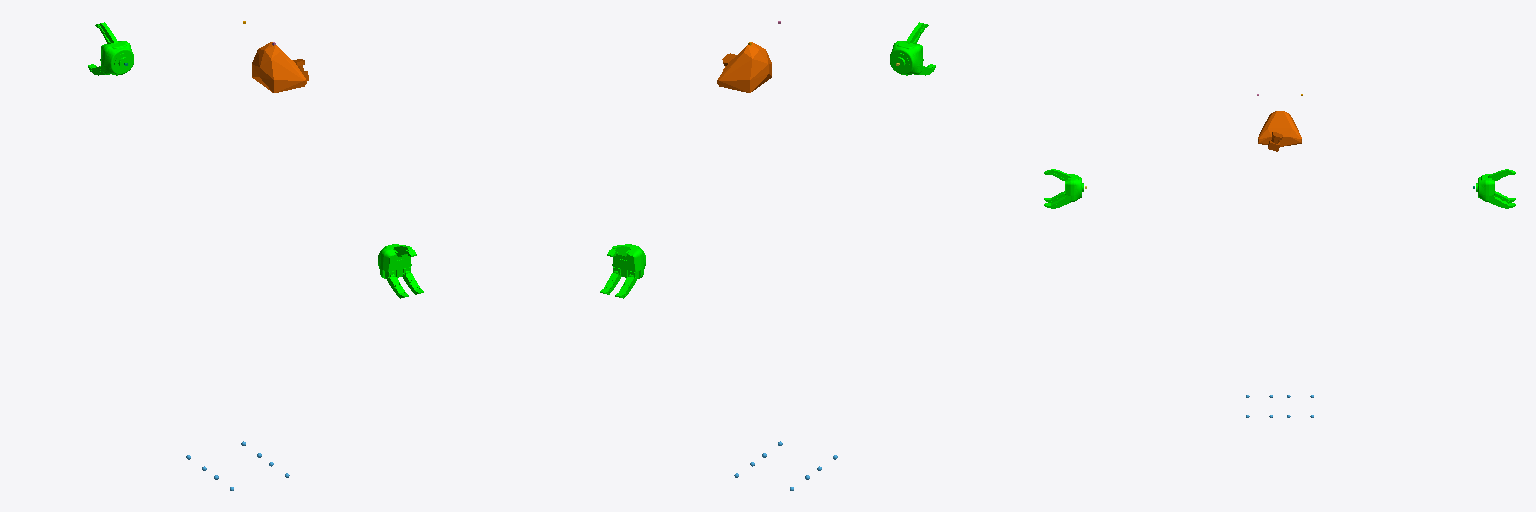
--- Facts derived from the render (not from the file) ---
Views: 3 orthographic renders of the robot side by side, from view 1: azimuth 30°, elevation 25°; view 2: azimuth 150°, elevation 25°; view 3: azimuth 270°, elevation 25°.
Model atlas with 94 links and 93 joints (30 revolute, 63 fixed), rooted at pelvis, posed all joints at 0.
Links seen in each view (by area): view 1: head, left_palm, right_palm; view 2: head, right_palm, left_palm; view 3: head.
Link boxes in pixels (<box>): head: <box>252,42,306,92</box>; left_palm: <box>100,41,133,75</box>; right_palm: <box>378,244,411,278</box>; head: <box>717,42,771,92</box>; right_palm: <box>890,41,923,75</box>; left_palm: <box>612,244,645,278</box>; head: <box>1258,111,1301,146</box>.
Bounding box of the posed robot: 0.4399 × 2.59 × 1.95 m (x, y, z).
28 mesh visuals loaded from 29 distinct referenced files (7 OBJ); not drawn: 28 (reference not matched to a file when rendering).

robot.urdf — atlas:
<?xml version="1.0" ?>
<!-- =================================================================================== -->
<!-- |    This document was autogenerated by xacro from atlas_v5_convex_hull_fingers.xacro | -->
<!-- |    EDITING THIS FILE BY HAND IS NOT RECOMMENDED                                 | -->
<!-- =================================================================================== -->
<robot name="atlas" xmlns:xacro="http://ros.org/wiki/xacro">
  <link name="l_clav">
    <inertial>
      <mass value="4.466"/>
      <origin rpy="0 0 0" xyz="0 0 -0.084"/>
      <inertia ixx="0.011" ixy="0" ixz="0" iyy="0.009" iyz="0.004" izz="0.004"/>
    </inertial>
    <visual>
      <geometry>
        <mesh filename="package://atlas_v5/meshes/r_clav.obj"/>
      </geometry>
    </visual>
    <collision>
      <geometry>
        <mesh filename="package://atlas_v5/meshes/r_clav_chull.obj"/>
      </geometry>
    </collision>
  </link>
  <link name="l_foot">
    <inertial>
      <mass value="2.410"/>
      <origin rpy="0 0 0" xyz="0.027 0 -0.067"/>
      <inertia ixx="0.002" ixy="0" ixz="0" iyy="0.007" iyz="0" izz="0.008"/>
    </inertial>
    <visual>
      <geometry>
        <mesh filename="package://atlas_v5/meshes/l_foot.obj"/>
      </geometry>
    </visual>
    <collision>
      <geometry>
        <mesh filename="package://atlas_v5/meshes/l_foot_chull.obj"/>
      </geometry>
    </collision>
    <collision group="heel">
      <origin rpy="0 0 0" xyz="-0.0876 0.066 -0.07645"/>
      <geometry>
        <sphere radius="0.0"/>
      </geometry>
    </collision>
    <visual group="heel">
      <origin rpy="0 0 0" xyz="-0.0876 0.066 -0.07645"/>
      <geometry>
        <sphere radius="0.01"/>
      </geometry>
    </visual>
    <collision group="heel">
      <origin rpy="0 0 0" xyz="-0.0876 -0.0626 -0.07645"/>
      <geometry>
        <sphere radius="0.0"/>
      </geometry>
    </collision>
    <visual group="heel">
      <origin rpy="0 0 0" xyz="-0.0876 -0.0626 -0.07645"/>
      <geometry>
        <sphere radius="0.01"/>
      </geometry>
    </visual>
    <collision group="toe">
      <origin rpy="0 0 0" xyz="0.1728 0.066 -0.07645"/>
      <geometry>
        <sphere radius="0.0"/>
      </geometry>
    </collision>
    <visual group="toe">
      <origin rpy="0 0 0" xyz="0.1728 0.066 -0.07645"/>
      <geometry>
        <sphere radius="0.01"/>
      </geometry>
    </visual>
    <collision group="toe">
      <origin rpy="0 0 0" xyz="0.1728 -0.0626 -0.07645"/>
      <geometry>
        <sphere radius="0.0"/>
      </geometry>
    </collision>
    <visual group="toe">
      <origin rpy="0 0 0" xyz="0.1728 -0.0626 -0.07645"/>
      <geometry>
        <sphere radius="0.01"/>
      </geometry>
    </visual>
  </link>
  <link name="l_hand">
    <inertial>
      <mass value="0.5839"/>
      <origin rpy="0 0 0" xyz="0.00016 -0.08159 0.00002"/>
      <inertia ixx="0.000388" ixy="0" ixz="0" iyy="0.000477" iyz="0" izz="0.000379"/>
    </inertial>
  </link>
  <link name="l_larm">
    <inertial>
      <mass value="3.248"/>
      <origin rpy="0 0 0" xyz="0 0 0"/>
      <inertia ixx="0.00265" ixy="0" ixz="0" iyy="0.00446" iyz="0" izz="0.00446"/>
    </inertial>
    <visual>
      <geometry>
        <mesh filename="package://atlas_v5/meshes/r_larm.obj"/>
      </geometry>
    </visual>
    <collision>
      <geometry>
        <mesh filename="package://atlas_v5/meshes/r_larm_chull.obj"/>
      </geometry>
    </collision>
  </link>
  <link name="l_lfarm">
    <inertial>
      <mass value="0.648"/>
      <origin rpy="0 0 0" xyz="0.00017 -0.02515 0.00163"/>
      <inertia ixx="0.000764" ixy="0" ixz="0" iyy="0.000429" iyz="0" izz="0.000825"/>
    </inertial>
    <visual>
      <geometry>
        <mesh filename="package://atlas_v5/meshes/r_hand.obj"/>
      </geometry>
    </visual>
    <collision>
      <geometry>
        <mesh filename="package://atlas_v5/meshes/r_hand_chull.obj"/>
      </geometry>
    </collision>
  </link>
  <link name="l_lglut">
    <inertial>
      <mass value="0.898"/>
      <origin rpy="0 0 0" xyz="0.0133341 0.0170484 -0.0312052"/>
      <inertia ixx="0.000691326" ixy="-2.24344e-05" ixz="2.50508e-06" iyy="0.00126856" iyz="0.000137862" izz="0.00106487"/>
    </inertial>
    <visual>
      <geometry>
        <mesh filename="package://atlas_v5/meshes/l_lglut.obj"/>
      </geometry>
    </visual>
    <collision>
      <geometry>
        <mesh filename="package://atlas_v5/meshes/l_lglut_chull.obj"/>
      </geometry>
    </collision>
  </link>
  <link name="l_lleg">
    <inertial>
      <mass value="4.515"/>
      <origin rpy="0 0 0" xyz="0.001 0 -0.187"/>
      <inertia ixx="0.077" ixy="0" ixz="-0.003" iyy="0.076" iyz="0" izz="0.01"/>
    </inertial>
    <visual>
      <geometry>
        <mesh filename="package://atlas_v5/meshes/l_lleg.obj"/>
      </geometry>
    </visual>
    <collision>
      <geometry>
        <mesh filename="package://atlas_v5/meshes/l_lleg_chull.obj"/>
      </geometry>
    </collision>
  </link>
  <link name="l_scap">
    <inertial>
      <mass value="3.899"/>
      <origin rpy="0 0 0" xyz="0 0 0"/>
      <inertia ixx="0.00319" ixy="0" ixz="0" iyy="0.00583" iyz="0" izz="0.00583"/>
    </inertial>
    <visual>
      <geometry>
        <mesh filename="package://atlas_v5/meshes/r_scap.obj"/>
      </geometry>
    </visual>
    <collision>
      <geometry>
        <mesh filename="package://atlas_v5/meshes/r_scap_chull.obj"/>
      </geometry>
    </collision>
  </link>
  <link name="l_talus">
    <inertial>
      <mass value="0.125"/>
      <origin rpy="0 0 0" xyz="0 0 0"/>
      <inertia ixx="1.01674e-05" ixy="0" ixz="0" iyy="8.42775e-06" iyz="0" izz="1.30101e-05"/>
    </inertial>
    <visual>
      <geometry>
        <mesh filename="package://atlas_v5/meshes/l_talus.obj"/>
      </geometry>
    </visual>
  </link>
  <link name="l_uarm">
    <inertial>
      <mass value="4.386"/>
      <origin rpy="0 0 0" xyz="0 0.065 0"/>
      <inertia ixx="0.00656" ixy="0" ixz="0" iyy="0.00358" iyz="0" izz="0.00656"/>
    </inertial>
    <visual>
      <geometry>
        <mesh filename="package://atlas_v5/meshes/r_uarm.obj"/>
      </geometry>
    </visual>
    <collision>
      <geometry>
        <mesh filename="package://atlas_v5/meshes/r_uarm_chull.obj"/>
      </geometry>
    </collision>
  </link>
  <link name="l_ufarm">
    <inertial>
      <mass value="2.4798"/>
      <origin rpy="0 0 0" xyz="0.00015 0.08296 0.00037"/>
      <inertia ixx="0.012731" ixy="0" ixz="0" iyy="0.002857" iyz="0" izz="0.011948"/>
    </inertial>
    <visual>
      <geometry>
        <mesh filename="package://atlas_v5/meshes/r_farm.obj"/>
      </geometry>
    </visual>
    <collision>
      <geometry>
        <mesh filename="package://atlas_v5/meshes/r_farm_chull.obj"/>
      </geometry>
    </collision>
  </link>
  <link name="l_uglut">
    <inertial>
      <mass value="1.959"/>
      <origin rpy="0 0 0" xyz="0.00529262 -0.00344732 0.00313046"/>
      <inertia ixx="0.00074276" ixy="-3.79607e-08" ixz="-2.79549e-05" iyy="0.000688179" iyz="-3.2735e-08" izz="0.00041242"/>
    </inertial>
    <visual>
      <geometry>
        <mesh filename="package://atlas_v5/meshes/l_uglut.obj"/>
      </geometry>
    </visual>
    <collision>
      <geometry>
        <mesh filename="package://atlas_v5/meshes/l_uglut_chull.obj"/>
      </geometry>
    </collision>
  </link>
  <link name="l_uleg">
    <inertial>
      <mass value="8.204"/>
      <origin rpy="0 0 0" xyz="0 0 -0.21"/>
      <inertia ixx="0.09" ixy="0" ixz="0" iyy="0.09" iyz="0" izz="0.02"/>
    </inertial>
    <visual>
      <geometry>
        <mesh filename="package://atlas_v5/meshes/l_uleg.obj"/>
      </geometry>
    </visual>
    <!-- to cover the logo shield -->
    <!-- inside strut -->
    <!-- outside strut -->
    <collision>
      <geometry>
        <mesh filename="package://atlas_v5/meshes/l_uleg_chull.obj"/>
      </geometry>
    </collision>
  </link>
  <link name="ltorso">
    <inertial>
      <mass value="2.270"/>
      <origin rpy="0 0 0" xyz="-0.0112984 -3.15366e-06 0.0746835"/>
      <inertia ixx="0.0039092" ixy="-5.04491e-08" ixz="-0.000342157" iyy="0.00341694" iyz="4.87119e-07" izz="0.00174492"/>
    </inertial>
    <visual>
      <geometry>
        <mesh filename="package://atlas_v5/meshes/ltorso.obj"/>
      </geometry>
    </visual>
  </link>
  <link name="mtorso">
    <inertial>
      <mass value="0.799"/>
      <origin rpy="0 0 0" xyz="-0.00816266 -0.0131245 0.0305974"/>
      <inertia ixx="0.000454181" ixy="-6.10764e-05" ixz="3.94009e-05" iyy="0.000483282" iyz="5.27463e-05" izz="0.000444215"/>
    </inertial>
    <visual>
      <geometry>
        <mesh filename="package://atlas_v5/meshes/mtorso.obj"/>
      </geometry>
    </visual>
  </link>
  <link name="pelvis">
    <inertial>
      <mass value="9.509"/>
      <origin rpy="0 0 0" xyz="0.0111 0 0.0271"/>
      <inertia ixx="0.1244" ixy="0.0008" ixz="-0.0007" iyy="0.0958" iyz="-0.0005" izz="0.1167"/>
    </inertial>
    <visual>
      <geometry>
        <mesh filename="package://atlas_v5/meshes/pelvis.obj"/>
      </geometry>
    </visual>
    <collision>
      <geometry>
        <mesh filename="package://atlas_v5/meshes/pelvis_chull.obj"/>
      </geometry>
    </collision>
  </link>
  <link name="r_clav">
    <inertial>
      <mass value="4.466"/>
      <origin rpy="0 0 0" xyz="0 0 -0.084"/>
      <inertia ixx="0.011" ixy="0" ixz="0" iyy="0.009" iyz="0.004" izz="0.004"/>
    </inertial>
    <visual>
      <geometry>
        <mesh filename="package://atlas_v5/meshes/r_clav.obj"/>
      </geometry>
    </visual>
    <collision>
      <geometry>
        <mesh filename="package://atlas_v5/meshes/r_clav_chull.obj"/>
      </geometry>
    </collision>
  </link>
  <link name="r_foot">
    <inertial>
      <mass value="2.41"/>
      <origin rpy="0 0 0" xyz="0.027 0 -0.067"/>
      <inertia ixx="0.002" ixy="0" ixz="0" iyy="0.007" iyz="0" izz="0.008"/>
    </inertial>
    <visual>
      <geometry>
        <mesh filename="package://atlas_v5/meshes/r_foot.obj"/>
      </geometry>
    </visual>
    <collision>
      <geometry>
        <mesh filename="package://atlas_v5/meshes/r_foot_chull.obj"/>
      </geometry>
    </collision>
    <collision group="heel">
      <origin rpy="0 0 0" xyz="-0.0876 0.0626 -0.07645"/>
      <geometry>
        <sphere radius="0.0"/>
      </geometry>
    </collision>
    <visual group="heel">
      <origin rpy="0 0 0" xyz="-0.0876 0.0626 -0.07645"/>
      <geometry>
        <sphere radius="0.01"/>
      </geometry>
    </visual>
    <collision group="heel">
      <origin rpy="0 0 0" xyz="-0.0876 -0.066 -0.07645"/>
      <geometry>
        <sphere radius="0.0"/>
      </geometry>
    </collision>
    <visual group="heel">
      <origin rpy="0 0 0" xyz="-0.0876 -0.066 -0.07645"/>
      <geometry>
        <sphere radius="0.01"/>
      </geometry>
    </visual>
    <collision group="toe">
      <origin rpy="0 0 0" xyz="0.1728 0.0626 -0.07645"/>
      <geometry>
        <sphere radius="0.0"/>
      </geometry>
    </collision>
    <visual group="toe">
      <origin rpy="0 0 0" xyz="0.1728 0.0626 -0.07645"/>
      <geometry>
        <sphere radius="0.01"/>
      </geometry>
    </visual>
    <collision group="toe">
      <origin rpy="0 0 0" xyz="0.1728 -0.066 -0.07645"/>
      <geometry>
        <sphere radius="0.0"/>
      </geometry>
    </collision>
    <visual group="toe">
      <origin rpy="0 0 0" xyz="0.1728 -0.066 -0.07645"/>
      <geometry>
        <sphere radius="0.01"/>
      </geometry>
    </visual>
  </link>
  <link name="r_hand">
    <inertial>
      <mass value="0.5839"/>
      <origin rpy="0 0 0" xyz="0.00016 -0.08159 0.00002"/>
      <inertia ixx="0.000388" ixy="0" ixz="0" iyy="0.000477" iyz="0" izz="0.000379"/>
    </inertial>
  </link>
  <link name="r_larm">
    <inertial>
      <mass value="3.248"/>
      <origin rpy="0 0 0" xyz="0 0 0"/>
      <inertia ixx="0.00265" ixy="0" ixz="0" iyy="0.00446" iyz="0" izz="0.00446"/>
    </inertial>
    <visual>
      <geometry>
        <mesh filename="package://atlas_v5/meshes/r_larm.obj"/>
      </geometry>
    </visual>
    <collision>
      <geometry>
        <mesh filename="package://atlas_v5/meshes/r_larm_chull.obj"/>
      </geometry>
    </collision>
  </link>
  <link name="r_lfarm">
    <inertial>
      <mass value="0.648"/>
      <origin rpy="0 0 0" xyz="0.00017 -0.02515 0.00163"/>
      <inertia ixx="0.000764" ixy="0" ixz="0" iyy="0.000429" iyz="0" izz="0.000825"/>
    </inertial>
    <visual>
      <geometry>
        <mesh filename="package://atlas_v5/meshes/r_hand.obj"/>
      </geometry>
    </visual>
    <collision>
      <geometry>
        <mesh filename="package://atlas_v5/meshes/r_hand_chull.obj"/>
      </geometry>
    </collision>
  </link>
  <link name="r_lglut">
    <inertial>
      <mass value="0.898"/>
      <origin rpy="0 0 0" xyz="0.0133341 -0.0170484 -0.0312052"/>
      <inertia ixx="0.000691326" ixy="2.24344e-05" ixz="2.50508e-06" iyy="0.00126856" iyz="-0.000137862" izz="0.00106487"/>
    </inertial>
    <visual>
      <geometry>
        <mesh filename="package://atlas_v5/meshes/r_lglut.obj"/>
      </geometry>
    </visual>
    <collision>
      <geometry>
        <mesh filename="package://atlas_v5/meshes/r_lglut_chull.obj"/>
      </geometry>
    </collision>
  </link>
  <link name="r_lleg">
    <inertial>
      <mass value="4.515"/>
      <origin rpy="0 0 0" xyz="0.001 0 -0.187"/>
      <inertia ixx="0.077" ixy="-0" ixz="-0.003" iyy="0.076" iyz="-0" izz="0.01"/>
    </inertial>
    <visual>
      <geometry>
        <mesh filename="package://atlas_v5/meshes/r_lleg.obj"/>
      </geometry>
    </visual>
    <collision>
      <geometry>
        <mesh filename="package://atlas_v5/meshes/r_lleg_chull.obj"/>
      </geometry>
    </collision>
  </link>
  <link name="r_scap">
    <inertial>
      <mass value="3.899"/>
      <origin rpy="0 0 0" xyz="0 0 0"/>
      <inertia ixx="0.00319" ixy="0" ixz="0" iyy="0.00583" iyz="0" izz="0.00583"/>
    </inertial>
    <visual>
      <geometry>
        <mesh filename="package://atlas_v5/meshes/r_scap.obj"/>
      </geometry>
    </visual>
    <collision>
      <geometry>
        <mesh filename="package://atlas_v5/meshes/r_scap_chull.obj"/>
      </geometry>
    </collision>
  </link>
  <link name="r_talus">
    <inertial>
      <mass value="0.125"/>
      <origin rpy="0 0 0" xyz="0 0 0"/>
      <inertia ixx="1.01674e-05" ixy="0" ixz="0" iyy="8.42775e-06" iyz="0" izz="1.30101e-05"/>
    </inertial>
    <visual>
      <geometry>
        <mesh filename="package://atlas_v5/meshes/r_talus.obj"/>
      </geometry>
    </visual>
  </link>
  <link name="r_uarm">
    <inertial>
      <mass value="4.386"/>
      <origin rpy="0 0 0" xyz="0 0.065 0"/>
      <inertia ixx="0.00656" ixy="0" ixz="0" iyy="0.00358" iyz="0" izz="0.00656"/>
    </inertial>
    <visual>
      <geometry>
        <mesh filename="package://atlas_v5/meshes/r_uarm.obj"/>
      </geometry>
    </visual>
    <collision>
      <geometry>
        <mesh filename="package://atlas_v5/meshes/r_uarm_chull.obj"/>
      </geometry>
    </collision>
  </link>
  <link name="r_ufarm">
    <inertial>
      <mass value="2.4798"/>
      <origin rpy="0 0 0" xyz="0.00015 0.08296 0.00037"/>
      <inertia ixx="0.012731" ixy="0" ixz="0" iyy="0.002857" iyz="0" izz="0.011948"/>
    </inertial>
    <visual>
      <geometry>
        <mesh filename="package://atlas_v5/meshes/r_farm.obj"/>
      </geometry>
    </visual>
    <collision>
      <geometry>
        <mesh filename="package://atlas_v5/meshes/r_farm_chull.obj"/>
      </geometry>
    </collision>
  </link>
  <link name="r_uglut">
    <inertial>
      <mass value="1.959"/>
      <origin rpy="0 0 0" xyz="0.00529262 0.00344732 0.00313046"/>
      <inertia ixx="0.00074276" ixy="3.79607e-08" ixz="-2.79549e-05" iyy="0.000688179" iyz="3.2735e-08" izz="0.00041242"/>
    </inertial>
    <visual>
      <geometry>
        <mesh filename="package://atlas_v5/meshes/r_uglut.obj"/>
      </geometry>
    </visual>
    <collision>
      <geometry>
        <mesh filename="package://atlas_v5/meshes/r_uglut_chull.obj"/>
      </geometry>
    </collision>
  </link>
  <link name="r_uleg">
    <inertial>
      <mass value="8.204"/>
      <origin rpy="0 0 0" xyz="0 0 -0.21"/>
      <inertia ixx="0.09" ixy="0" ixz="0" iyy="0.09" iyz="0" izz="0.02"/>
    </inertial>
    <visual>
      <geometry>
        <mesh filename="package://atlas_v5/meshes/r_uleg.obj"/>
      </geometry>
    </visual>
    <!-- to cover the logo shield -->
    <!-- inside strut -->
    <!-- outside strut -->
    <collision>
      <geometry>
        <mesh filename="package://atlas_v5/meshes/r_uleg_chull.obj"/>
      </geometry>
    </collision>
  </link>
  <link name="utorso">
    <inertial>
      <mass value="84.409"/>
      <origin rpy="0 0 0" xyz="-0.0622 0.0023 0.3157"/>
      <inertia ixx="1.577" ixy="-0.032" ixz="0.102" iyy="1.602" iyz="0.047" izz="0.565"/>
    </inertial>
    <visual>
      <geometry>
        <mesh filename="package://atlas_v5/meshes/utorso.obj"/>
      </geometry>
    </visual>
    <collision>
      <geometry>
        <mesh filename="package://atlas_v5/meshes/utorso_chull.obj"/>
      </geometry>
    </collision>
  </link>
  <joint name="back_bkx" type="revolute">
    <origin rpy="0 0 0" xyz="0 0 0.05"/>
    <axis xyz="1 0 0"/>
    <parent link="mtorso"/>
    <child link="utorso"/>
    <dynamics damping="0.1" friction="0"/>
    <limit effort="300" lower="-0.523599" upper="0.523599" velocity="12"/>
    <safety_controller k_position="100" k_velocity="100" soft_lower_limit="-10.5236" soft_upper_limit="10.5236"/>
  </joint>
  <joint name="back_bky" type="revolute">
    <origin rpy="0 0 0" xyz="0 0 0.162"/>
    <axis xyz="0 1 0"/>
    <parent link="ltorso"/>
    <child link="mtorso"/>
    <dynamics damping="0.1" friction="0"/>
    <limit effort="445" lower="-0.219388" upper="0.538783" velocity="9"/>
    <safety_controller k_position="100" k_velocity="100" soft_lower_limit="-10.2194" soft_upper_limit="10.5388"/>
  </joint>
  <joint name="back_bkz" type="revolute">
    <origin rpy="0 0 0" xyz="-0.0125 0 0"/>
    <axis xyz="0 0 1"/>
    <parent link="pelvis"/>
    <child link="ltorso"/>
    <dynamics damping="0.1" friction="0"/>
    <limit effort="106" lower="-0.663225" upper="0.663225" velocity="12"/>
    <safety_controller k_position="100" k_velocity="100" soft_lower_limit="-10.6632" soft_upper_limit="10.6632"/>
  </joint>
  <joint name="l_arm_elx" type="revolute">
    <origin rpy="0 0 0" xyz="0 -0.119 0.0092"/>
    <axis xyz="-1.0 -0.0 -0.0"/>
    <parent link="l_uarm"/>
    <child link="l_larm"/>
    <dynamics damping="0.1" friction="0"/>
    <limit effort="112" lower="0" upper="2.35619" velocity="12"/>
    <safety_controller k_position="100" k_velocity="100" soft_lower_limit="-10" soft_upper_limit="12.3562"/>
  </joint>
  <joint name="l_arm_ely" type="revolute">
    <origin rpy="0 0 0" xyz="0 -0.187 -0.016"/>
    <axis xyz="-0.0 -1.0 -0.0"/>
    <parent link="l_scap"/>
    <child link="l_uarm"/>
    <dynamics damping="0.1" friction="0"/>
    <limit effort="63" lower="0" upper="3.14159" velocity="12"/>
    <safety_controller k_position="100" k_velocity="100" soft_lower_limit="-10" soft_upper_limit="13.1416"/>
  </joint>
  <joint name="l_arm_shx" type="revolute">
    <origin rpy="0 0 0" xyz="0 -0.11 -0.245"/>
    <axis xyz="-1.0 -0.0 -0.0"/>
    <parent link="l_clav"/>
    <child link="l_scap"/>
    <dynamics damping="0.1" friction="0"/>
    <limit effort="99" lower="-1.5708" upper="1.5708" velocity="12"/>
    <safety_controller k_position="100" k_velocity="100" soft_lower_limit="-11.5708" soft_upper_limit="11.5708"/>
  </joint>
  <joint name="l_arm_shz" type="revolute">
    <origin rpy="0 0 3.14159265359" xyz="0.1406 0.2256 0.4776"/>
    <axis xyz="0 0 1"/>
    <parent link="utorso"/>
    <child link="l_clav"/>
    <dynamics damping="0.1" friction="0"/>
    <limit effort="87" lower="-1.5708" upper="0.785398" velocity="12"/>
    <safety_controller k_position="100" k_velocity="100" soft_lower_limit="-11.5708" soft_upper_limit="10.7854"/>
  </joint>
  <joint name="l_arm_mwx" type="revolute">
    <origin rpy="0 0 0" xyz="0 0 0"/>
    <axis xyz="1 0 0"/>
    <parent link="l_ufarm"/>
    <child link="l_lfarm"/>
    <dynamics damping="0.1" friction="0"/>
    <limit effort="25" lower="-1.7628" upper="1.7628" velocity="10"/>
    <safety_controller k_position="100" k_velocity="100" soft_lower_limit="-11.7628" soft_upper_limit="11.7628"/>
  </joint>
  <joint name="l_arm_uwy" type="revolute">
    <origin rpy="0 3.14159265359 0" xyz="0 -0.29955 -0.00921"/>
    <axis xyz="-0.0 -1.0 -0.0"/>
    <parent link="l_larm"/>
    <child link="l_ufarm"/>
    <dynamics damping="0.1" friction="0"/>
    <limit effort="25" lower="-3.011" upper="3.011" velocity="10"/>
    <safety_controller k_position="100" k_velocity="100" soft_lower_limit="-13.011" soft_upper_limit="13.011"/>
  </joint>
  <joint name="l_arm_lwy" type="revolute">
    <origin rpy="0 3.14159265359 0" xyz="0 0 0"/>
    <axis xyz="-0.0 -1.0 -0.0"/>
    <parent link="l_lfarm"/>
    <child link="l_hand"/>
    <dynamics damping="0.1" friction="0"/>
    <limit effort="25" lower="-2.9671" upper="2.9671" velocity="10"/>
    <safety_controller k_position="100" k_velocity="100" soft_lower_limit="-12.9671" soft_upper_limit="12.9671"/>
  </joint>
  <joint name="l_leg_akx" type="revolute">
    <origin rpy="0 0 0" xyz="0 0 0"/>
    <axis xyz="1 0 0"/>
    <parent link="l_talus"/>
    <child link="l_foot"/>
    <dynamics damping="0.1" friction="0"/>
    <limit effort="360" lower="-0.8" upper="0.8" velocity="12"/>
    <safety_controller k_position="100" k_velocity="100" soft_lower_limit="-10.8" soft_upper_limit="10.8"/>
  </joint>
  <joint name="l_leg_aky" type="revolute">
    <origin rpy="0 0 0" xyz="0 0 -0.422"/>
    <axis xyz="0 1 0"/>
    <parent link="l_lleg"/>
    <child link="l_talus"/>
    <dynamics damping="0.1" friction="0"/>
    <limit effort="740" lower="-1" upper="0.7" velocity="12"/>
    <safety_controller k_position="100" k_velocity="100" soft_lower_limit="-11" soft_upper_limit="10.7"/>
  </joint>
  <joint name="l_leg_hpx" type="revolute">
    <origin rpy="0 0 0" xyz="0 0 0"/>
    <axis xyz="1 0 0"/>
    <parent link="l_uglut"/>
    <child link="l_lglut"/>
    <dynamics damping="0.1" friction="0"/>
    <limit effort="530" lower="-0.523599" upper="0.523599" velocity="12"/>
    <safety_controller k_position="100" k_velocity="100" soft_lower_limit="-10.5236" soft_upper_limit="10.5236"/>
  </joint>
  <joint name="l_leg_hpy" type="revolute">
    <origin rpy="0 0 0" xyz="0.05 0.0225 -0.066"/>
    <axis xyz="0 1 0"/>
    <parent link="l_lglut"/>
    <child link="l_uleg"/>
    <dynamics damping="0.1" friction="0"/>
    <limit effort="840" lower="-1.61234" upper="0.65764" velocity="12"/>
    <safety_controller k_position="100" k_velocity="100" soft_lower_limit="-11.6123" soft_upper_limit="10.6576"/>
  </joint>
  <joint name="l_leg_hpz" type="revolute">
    <origin rpy="0 0 0" xyz="0 0.089 0"/>
    <axis xyz="0 0 1"/>
    <parent link="pelvis"/>
    <child link="l_uglut"/>
    <dynamics damping="0.1" friction="0"/>
    <limit effort="275" lower="-0.174358" upper="0.786794" velocity="12"/>
    <safety_controller k_position="100" k_velocity="100" soft_lower_limit="-10.1744" soft_upper_limit="10.7868"/>
  </joint>
  <joint name="l_leg_kny" type="revolute">
    <origin rpy="0 0 0" xyz="-0.05 0 -0.374"/>
    <axis xyz="0 1 0"/>
    <parent link="l_uleg"/>
    <child link="l_lleg"/>
    <dynamics damping="0.1" friction="0"/>
    <limit effort="890" lower="0" upper="2.35637" velocity="12"/>
    <safety_controller k_position="100" k_velocity="100" soft_lower_limit="-10" soft_upper_limit="12.3564"/>
  </joint>
  <joint name="neck_ay" type="revolute">
    <origin rpy="0 0 0" xyz="0.2946 0 0.5765"/>
    <axis xyz="0 1 0"/>
    <parent link="utorso"/>
    <child link="head"/>
    <dynamics damping="0.1" friction="0"/>
    <limit effort="25" lower="-0.602139" upper="1.14319" velocity="6.28"/>
    <safety_controller k_position="100" k_velocity="100" soft_lower_limit="-10.6021" soft_upper_limit="11.1432"/>
  </joint>
  <joint name="r_arm_elx" type="revolute">
    <origin rpy="0 0 0" xyz="0 -0.119 0.0092"/>
    <axis xyz="1 0 0"/>
    <parent link="r_uarm"/>
    <child link="r_larm"/>
    <dynamics damping="0.1" friction="0"/>
    <limit effort="112" lower="-2.35619" upper="0" velocity="12"/>
    <safety_controller k_position="100" k_velocity="100" soft_lower_limit="-12.3562" soft_upper_limit="10"/>
  </joint>
  <joint name="r_arm_ely" type="revolute">
    <origin rpy="0 0 0" xyz="0 -0.187 -0.016"/>
    <axis xyz="0 1 0"/>
    <parent link="r_scap"/>
    <child link="r_uarm"/>
    <dynamics damping="0.1" friction="0"/>
    <limit effort="63" lower="0" upper="3.14159" velocity="12"/>
    <safety_controller k_position="100" k_velocity="100" soft_lower_limit="-10" soft_upper_limit="13.1416"/>
  </joint>
  <joint name="r_arm_shx" type="revolute">
    <origin rpy="0 0 0" xyz="0 -0.11 -0.245"/>
    <axis xyz="1 0 0"/>
    <parent link="r_clav"/>
    <child link="r_scap"/>
    <dynamics damping="0.1" friction="0"/>
    <limit effort="99" lower="-1.5708" upper="1.5708" velocity="12"/>
    <safety_controller k_position="100" k_velocity="100" soft_lower_limit="-11.5708" soft_upper_limit="11.5708"/>
  </joint>
  <joint name="r_arm_shz" type="revolute">
    <origin rpy="0 0 0" xyz="0.1406 -0.2256 0.4776"/>
    <axis xyz="0 0 1"/>
    <parent link="utorso"/>
    <child link="r_clav"/>
    <dynamics damping="0.1" friction="0"/>
    <limit effort="87" lower="-0.785398" upper="1.5708" velocity="12"/>
    <safety_controller k_position="100" k_velocity="100" soft_lower_limit="-10.7854" soft_upper_limit="11.5708"/>
  </joint>
  <joint name="r_arm_mwx" type="revolute">
    <origin rpy="0 0 0" xyz="0 0 0"/>
    <axis xyz="1 0 0"/>
    <parent link="r_ufarm"/>
    <child link="r_lfarm"/>
    <dynamics damping="0.1" friction="0"/>
    <limit effort="25" lower="-1.7628" upper="1.7628" velocity="10"/>
    <safety_controller k_position="100" k_velocity="100" soft_lower_limit="-11.7628" soft_upper_limit="11.7628"/>
  </joint>
  <joint name="r_arm_uwy" type="revolute">
    <origin rpy="0 0 0" xyz="0 -0.29955 -0.00921"/>
    <axis xyz="0 1 0"/>
    <parent link="r_larm"/>
    <child link="r_ufarm"/>
    <dynamics damping="0.1" friction="0"/>
    <limit effort="25" lower="-3.011" upper="3.011" velocity="10"/>
    <safety_controller k_position="100" k_velocity="100" soft_lower_limit="-13.011" soft_upper_limit="13.011"/>
  </joint>
  <joint name="r_arm_lwy" type="revolute">
    <origin rpy="0 0 0" xyz="0 0 0"/>
    <axis xyz="0 1 0"/>
    <parent link="r_lfarm"/>
    <child link="r_hand"/>
    <dynamics damping="0.1" friction="0"/>
    <limit effort="25" lower="-2.9671" upper="2.9671" velocity="10"/>
    <safety_controller k_position="100" k_velocity="100" soft_lower_limit="-12.9671" soft_upper_limit="12.9671"/>
  </joint>
  <joint name="r_leg_akx" type="revolute">
    <origin rpy="0 0 0" xyz="0 0 0"/>
    <axis xyz="1 0 0"/>
    <parent link="r_talus"/>
    <child link="r_foot"/>
    <dynamics damping="0.1" friction="0"/>
    <limit effort="360" lower="-0.8" upper="0.8" velocity="12"/>
    <safety_controller k_position="100" k_velocity="100" soft_lower_limit="-10.8" soft_upper_limit="10.8"/>
  </joint>
  <joint name="r_leg_aky" type="revolute">
    <origin rpy="0 0 0" xyz="0 0 -0.422"/>
    <axis xyz="0 1 0"/>
    <parent link="r_lleg"/>
    <child link="r_talus"/>
    <dynamics damping="0.1" friction="0"/>
    <limit effort="740" lower="-1" upper="0.7" velocity="12"/>
    <safety_controller k_position="100" k_velocity="100" soft_lower_limit="-11" soft_upper_limit="10.7"/>
  </joint>
  <joint name="r_leg_hpx" type="revolute">
    <origin rpy="0 0 0" xyz="0 0 0"/>
    <axis xyz="1 0 0"/>
    <parent link="r_uglut"/>
    <child link="r_lglut"/>
    <dynamics damping="0.1" friction="0"/>
    <limit effort="530" lower="-0.523599" upper="0.523599" velocity="12"/>
    <safety_controller k_position="100" k_velocity="100" soft_lower_limit="-10.5236" soft_upper_limit="10.5236"/>
  </joint>
  <joint name="r_leg_hpy" type="revolute">
    <origin rpy="0 0 0" xyz="0.05 -0.0225 -0.066"/>
    <axis xyz="0 1 0"/>
    <parent link="r_lglut"/>
    <child link="r_uleg"/>
    <dynamics damping="0.1" friction="0"/>
    <limit effort="840" lower="-1.61234" upper="0.65764" velocity="12"/>
    <safety_controller k_position="100" k_velocity="100" soft_lower_limit="-11.6123" soft_upper_limit="10.6576"/>
  </joint>
  <joint name="r_leg_hpz" type="revolute">
    <origin rpy="0 0 0" xyz="0 -0.089 0"/>
    <axis xyz="0 0 1"/>
    <parent link="pelvis"/>
    <child link="r_uglut"/>
    <dynamics damping="0.1" friction="0"/>
    <limit effort="275" lower="-0.786794" upper="0.174358" velocity="12"/>
    <safety_controller k_position="100" k_velocity="100" soft_lower_limit="-10.7868" soft_upper_limit="10.1744"/>
  </joint>
  <joint name="r_leg_kny" type="revolute">
    <origin rpy="0 0 0" xyz="-0.05 0 -0.374"/>
    <axis xyz="0 1 0"/>
    <parent link="r_uleg"/>
    <child link="r_lleg"/>
    <dynamics damping="0.1" friction="0"/>
    <limit effort="890" lower="0" upper="2.35637" velocity="12"/>
    <safety_controller k_position="100" k_velocity="100" soft_lower_limit="-10" soft_upper_limit="12.3564"/>
  </joint>
  <link name="r_situational_awareness_camera_link">
    <inertial>
      <mass value="0.1"/>
      <origin xyz="0 0 0"/>
      <inertia ixx="0.00001" ixy="0" ixz="0" iyy="0.00001" iyz="0" izz="0.00001"/>
    </inertial>
    <visual>
      <origin rpy="0 0 0" xyz="0 0 0"/>
      <geometry>
        <box size="0.01 0.01 0.01"/>
      </geometry>
    </visual>
    <collision>
      <origin rpy="0 0 0" xyz="0 0 0"/>
      <geometry>
        <box size="0.01 0.01 0.01"/>
      </geometry>
    </collision>
  </link>
  <joint name="r_situational_awareness_camera_joint" type="fixed">
    <parent link="utorso"/>
    <child link="r_situational_awareness_camera_link"/>
    <!-- SA camera mounted above the multisense head -->
    <origin rpy="0 0 -1.309" xyz="0.155 -0.121 0.785"/>
  </joint>
  <joint name="r_situational_awareness_camera_optical_frame_joint" type="fixed">
    <origin rpy="-1.5708 0.0 -1.5708" xyz="0 0 0"/>
    <parent link="r_situational_awareness_camera_link"/>
    <child link="r_situational_awareness_camera_optical_frame"/>
  </joint>
  <link name="r_situational_awareness_camera_optical_frame"/>
  <link name="l_situational_awareness_camera_link">
    <inertial>
      <mass value="0.1"/>
      <origin xyz="0 0 0"/>
      <inertia ixx="0.00001" ixy="0" ixz="0" iyy="0.00001" iyz="0" izz="0.00001"/>
    </inertial>
    <visual>
      <origin rpy="0 0 0" xyz="0 0 0"/>
      <geometry>
        <box size="0.01 0.01 0.01"/>
      </geometry>
    </visual>
    <collision>
      <origin rpy="0 0 0" xyz="0 0 0"/>
      <geometry>
        <box size="0.01 0.01 0.01"/>
      </geometry>
    </collision>
  </link>
  <joint name="l_situational_awareness_camera_joint" type="fixed">
    <parent link="utorso"/>
    <child link="l_situational_awareness_camera_link"/>
    <!-- SA camera mounted above the multisense head -->
    <origin rpy="0 0 1.309" xyz="0.155 0.121 0.785"/>
  </joint>
  <joint name="l_situational_awareness_camera_optical_frame_joint" type="fixed">
    <origin rpy="-1.5708 0.0 -1.5708" xyz="0 0 0"/>
    <parent link="l_situational_awareness_camera_link"/>
    <child link="l_situational_awareness_camera_optical_frame"/>
  </joint>
  <link name="l_situational_awareness_camera_optical_frame"/>
  <frame link="l_foot" name="l_foot_sole" rpy="0 0 0" xyz="0.0426  0.0017 -0.07645"/>
  <frame link="r_foot" name="r_foot_sole" rpy="0 0 0" xyz="0.0426 -0.0017 -0.07645"/>
  <collision_filter_group name="feet">
    <member link="l_foot"/>
    <member link="r_foot"/>
    <ignored_collision_filter_group collision_filter_group="feet"/>
  </collision_filter_group>
  <collision_filter_group name="core">
    <member link="utorso"/>
    <member link="pelvis"/>
    <ignored_collision_filter_group collision_filter_group="core"/>
  </collision_filter_group>
  <collision_filter_group name="ignore_core">
    <member link="r_scap"/>
    <member link="l_scap"/>
    <member link="r_clav"/>
    <member link="l_clav"/>
    <ignored_collision_filter_group collision_filter_group="core"/>
  </collision_filter_group>
  <collision_filter_group name="r_uleg">
    <member link="r_uglut"/>
    <member link="r_lglut"/>
    <member link="r_uleg"/>
    <ignored_collision_filter_group collision_filter_group="core"/>
    <ignored_collision_filter_group collision_filter_group="r_uleg"/>
    <ignored_collision_filter_group collision_filter_group="l_uleg"/>
  </collision_filter_group>
  <collision_filter_group name="l_uleg">
    <member link="l_uglut"/>
    <member link="l_lglut"/>
    <member link="l_uleg"/>
    <ignored_collision_filter_group collision_filter_group="core"/>
    <ignored_collision_filter_group collision_filter_group="l_uleg"/>
    <ignored_collision_filter_group collision_filter_group="l_uleg"/>
  </collision_filter_group>
  <collision_filter_group name="r_leg">
    <member link="r_lleg"/>
    <member link="r_talus"/>
    <member link="r_foot"/>
    <ignored_collision_filter_group collision_filter_group="r_leg"/>
    <ignored_collision_filter_group collision_filter_group="r_uleg"/>
  </collision_filter_group>
  <collision_filter_group name="l_leg">
    <member link="l_lleg"/>
    <member link="l_talus"/>
    <member link="l_foot"/>
    <ignored_collision_filter_group collision_filter_group="l_leg"/>
    <ignored_collision_filter_group collision_filter_group="l_uleg"/>
  </collision_filter_group>
  <collision_filter_group name="r_arm">
    <member link="r_clav"/>
    <member link="r_scap"/>
    <member link="r_uarm"/>
    <member link="r_larm"/>
    <member link="r_ufarm"/>
    <member link="r_lfarm"/>
    <member link="r_hand"/>
    <ignored_collision_filter_group collision_filter_group="r_arm"/>
  </collision_filter_group>
  <collision_filter_group name="l_arm">
    <member link="l_clav"/>
    <member link="l_scap"/>
    <member link="l_uarm"/>
    <member link="l_larm"/>
    <member link="l_ufarm"/>
    <member link="l_lfarm"/>
    <member link="l_hand"/>
    <ignored_collision_filter_group collision_filter_group="l_arm"/>
  </collision_filter_group>
  <link name="head">
    <inertial>
      <origin rpy="0 0 0" xyz="-0.075493 3.3383E-05 0.02774"/>
      <mass value="1.4199"/>
      <inertia ixx="0.0039688" ixy="-1.5797E-06" ixz="-0.00089293" iyy="0.0041178" iyz="-6.8415E-07" izz="0.0035243"/>
    </inertial>
    <visual>
      <origin rpy="0 0 0" xyz="0 0 0"/>
      <geometry>
        <mesh filename="package://multisense_sl/meshes/head_chull.obj"/>
      </geometry>
      <material name="">
        <color rgba="0.9098 0.44314 0.031373 1"/>
      </material>
    </visual>
    <collision>
      <origin rpy="0 0 0" xyz="0 0 0"/>
      <geometry>
        <mesh filename="package://multisense_sl/meshes/head_chull.obj"/>
      </geometry>
      <material name="">
        <color rgba="0.9098 0.44314 0.031373 1"/>
      </material>
    </collision>
  </link>
  <link name="pre_spindle"/>
  <joint name="pre_spindle_joint" type="fixed">
    <axis xyz="0 1 0"/>
    <origin rpy="0 0 0" xyz="-0.0446 0 0.0880"/>
    <parent link="head"/>
    <child link="pre_spindle"/>
  </joint>
  <link name="pre_spindle_cal_x"/>
  <link name="pre_spindle_cal_y"/>
  <link name="pre_spindle_cal_z"/>
  <link name="pre_spindle_cal_roll"/>
  <link name="pre_spindle_cal_pitch"/>
  <link name="pre_spindle_cal_yaw"/>
  <joint name="pre_spindle_cal_x_joint" type="fixed">
    <parent link="pre_spindle"/>
    <child link="pre_spindle_cal_x"/>
    <axis xyz="1 0 0"/>
    <limit effort="0.0" lower="-0.5" upper="0.5" velocity="0.0"/>
  </joint>
  <joint name="pre_spindle_cal_y_joint" type="fixed">
    <parent link="pre_spindle_cal_x"/>
    <child link="pre_spindle_cal_y"/>
    <axis xyz="0 1 0"/>
    <limit effort="0.0" lower="-0.5" upper="0.5" velocity="0.0"/>
  </joint>
  <joint name="pre_spindle_cal_z_joint" type="fixed">
    <parent link="pre_spindle_cal_y"/>
    <child link="pre_spindle_cal_z"/>
    <axis xyz="0 0 1"/>
    <limit effort="0.0" lower="-0.5" upper="0.5" velocity="0.0"/>
  </joint>
  <joint name="pre_spindle_cal_roll_joint" type="fixed">
    <parent link="pre_spindle_cal_z"/>
    <child link="pre_spindle_cal_roll"/>
    <axis xyz="1 0 0"/>
  </joint>
  <joint name="pre_spindle_cal_pitch_joint" type="fixed">
    <parent link="pre_spindle_cal_roll"/>
    <child link="pre_spindle_cal_pitch"/>
    <axis xyz="0 1 0"/>
  </joint>
  <joint name="pre_spindle_cal_yaw_joint" type="fixed">
    <parent link="pre_spindle_cal_pitch"/>
    <child link="pre_spindle_cal_yaw"/>
    <axis xyz="0 0 1"/>
  </joint>
  <joint name="hokuyo_joint" type="fixed">
    <origin rpy="0 0 0" xyz="0 0 0"/>
    <parent link="pre_spindle_cal_yaw"/>
    <child link="post_spindle"/>
    <axis xyz="1 0 0"/>
  </joint>
  <link name="post_spindle"/>
  <link name="post_spindle_cal_x"/>
  <link name="post_spindle_cal_y"/>
  <link name="post_spindle_cal_z"/>
  <link name="post_spindle_cal_roll"/>
  <link name="post_spindle_cal_pitch"/>
  <joint name="post_spindle_cal_x_joint" type="fixed">
    <parent link="post_spindle"/>
    <child link="post_spindle_cal_x"/>
    <axis xyz="1 0 0"/>
    <limit effort="0.0" lower="-0.5" upper="0.5" velocity="0.0"/>
  </joint>
  <joint name="post_spindle_cal_y_joint" type="fixed">
    <parent link="post_spindle_cal_x"/>
    <child link="post_spindle_cal_y"/>
    <axis xyz="0 1 0"/>
    <limit effort="0.0" lower="-0.5" upper="0.5" velocity="0.0"/>
  </joint>
  <joint name="post_spindle_cal_z_joint" type="fixed">
    <parent link="post_spindle_cal_y"/>
    <child link="post_spindle_cal_z"/>
    <axis xyz="0 0 1"/>
    <limit effort="0.0" lower="-0.5" upper="0.5" velocity="0.0"/>
  </joint>
  <joint name="post_spindle_cal_roll_joint" type="fixed">
    <parent link="post_spindle_cal_z"/>
    <child link="post_spindle_cal_roll"/>
    <axis xyz="1 0 0"/>
  </joint>
  <joint name="post_spindle_cal_pitch_joint" type="fixed">
    <parent link="post_spindle_cal_roll"/>
    <child link="post_spindle_cal_pitch"/>
    <axis xyz="0 1 0"/>
  </joint>
  <joint name="post_spindle_cal_yaw_joint" type="fixed">
    <parent link="post_spindle_cal_pitch"/>
    <child link="hokuyo_link"/>
    <axis xyz="0 0 1"/>
  </joint>
  <link name="hokuyo_link">
    <inertial>
      <origin rpy="0 0 0" xyz="0.012428 0.0004084 -0.0041835"/>
      <mass value="0.057664"/>
      <inertia ixx="3.7174E-05" ixy="4.9927E-08" ixz="1.1015E-05" iyy="4.2412E-05" iyz="-9.8165E-09" izz="4.167E-05"/>
    </inertial>
    <visual>
      <origin rpy="-0.314 0 0" xyz="0.045 -0.0261018277 -0.08342369"/>
      <geometry>
        <mesh filename="package://multisense_sl/meshes/head_camera_chull.obj"/>
      </geometry>
      <material name="">
        <color rgba="0.72941 0.35686 0.023529 1"/>
      </material>
    </visual>
    <collision>
      <origin rpy="-0.314 0 0" xyz="0.045 -0.0261018277 -0.08342369"/>
      <geometry>
        <mesh filename="package://multisense_sl/meshes/head_camera_chull.obj"/>
      </geometry>
      <material name="">
        <color rgba="0.72941 0.35686 0.023529 1"/>
      </material>
    </collision>
  </link>
  <joint name="head_hokuyo_fixed_joint" type="fixed">
    <axis xyz="0 1 0"/>
    <origin rpy="0 0 0" xyz="0.03 0 0.015"/>
    <parent link="hokuyo_link"/>
    <child link="head_hokuyo_frame"/>
  </joint>
  <link name="head_hokuyo_frame">
    <inertial>
      <mass value="0.01"/>
      <origin rpy="0 0 0" xyz="0 0 0"/>
      <inertia ixx="0.00001" ixy="0" ixz="0" iyy="0.00001" iyz="0" izz="0.00001"/>
    </inertial>
  </link>
  <gazebo reference="head_hokuyo_frame">
    <sensor name="head_hokuyo_sensor" type="ray">
      <pose>0 0 0 0 0 0</pose>
      <visualize>false</visualize>
      <update_rate>40</update_rate>
      <ray>
        <scan>
          <horizontal>
            <samples>720</samples>
            <resolution>1</resolution>
            <min_angle>-1.570796</min_angle>
            <max_angle>1.570796</max_angle>
          </horizontal>
        </scan>
        <range>
          <min>0.10</min>
          <max>30.0</max>
          <resolution>0.01</resolution>
        </range>
      </ray>
      <plugin filename="libgazebo_ros_laser.so" name="gazebo_ros_head_hokuyo_controller">
        <gaussianNoise>0.005</gaussianNoise>
        <alwaysOn>true</alwaysOn>
        <updateRate>40</updateRate>
        <topicName>/scan</topicName>
        <frameName>head_hokuyo_frame</frameName>
      </plugin>
    </sensor>
  </gazebo>
  <joint name="left_camera_frame_joint" type="fixed">
    <!-- optical frame collocated with tilting DOF -->
    <origin xyz="0.0 0.035 -0.002"/>
    <parent link="head"/>
    <child link="left_camera_frame"/>
  </joint>
  <link name="left_camera_frame">
    <inertial>
      <mass value="0.1"/>
      <origin xyz="0 0 0"/>
      <inertia ixx="0.001" ixy="0.0" ixz="0.0" iyy="0.001" iyz="0.0" izz="0.001"/>
    </inertial>
  </link>
  <joint name="left_camera_optical_frame_joint" type="fixed">
    <origin rpy="-1.5708 0.0 -1.5708" xyz="0 0 0"/>
    <parent link="left_camera_frame"/>
    <child link="left_camera_optical_frame"/>
  </joint>
  <link name="left_camera_optical_frame"/>
  <gazebo reference="left_camera_frame">
    <sensor name="left_camera_sensor" type="camera">
      <!-- update rate based on spec sheet for 2mp 15fps -->
      <update_rate>15.0</update_rate>
      <camera>
        <!-- hfov based on spec sheet, 80 degrees X 45 degrees -->
        <!-- for resolution of 2048 x 1088, we have non-unity aspect ratio -->
        <!-- but gazebo will violate the vertical fov for now to keep aspect ratio of 1 -->
        <horizontal_fov>1.3962634</horizontal_fov>
        <image>
          <width>2048</width>
          <height>1088</height>
          <format>R8G8B8</format>
        </image>
        <clip>
          <near>0.02</near>
          <far>100</far>
        </clip>
      </camera>
      <plugin filename="libgazebo_ros_camera.so" name="left_camera_controller">
        <alwaysOn>true</alwaysOn>
        <!-- update rate based on spec sheet for 2mp 15fps -->
        <updateRate>15.0</updateRate>
        <cameraName>multisense/left</cameraName>
        <imageTopicName>image_raw</imageTopicName>
        <cameraInfoTopicName>camera_info</cameraInfoTopicName>
        <frameName>left_camera_optical_frame</frameName>
        <hackBaseline>0.0</hackBaseline>
        <distortionK1>0.0</distortionK1>
        <distortionK2>0.0</distortionK2>
        <distortionK3>0.0</distortionK3>
        <distortionT1>0.0</distortionT1>
        <distortionT2>0.0</distortionT2>
      </plugin>
    </sensor>
  </gazebo>
  <joint name="right_camera_frame_joint" type="fixed">
    <origin xyz="0.0 -0.035 -0.002"/>
    <parent link="head"/>
    <child link="right_camera_frame"/>
  </joint>
  <link name="right_camera_frame">
    <inertial>
      <mass value="0.1"/>
      <origin xyz="0 0 0"/>
      <inertia ixx="0.001" ixy="0.0" ixz="0.0" iyy="0.001" iyz="0.0" izz="0.001"/>
    </inertial>
  </link>
  <joint name="right_camera_optical_frame_joint" type="fixed">
    <origin rpy="-1.5708 0.0 -1.5708" xyz="0 0 0"/>
    <parent link="right_camera_frame"/>
    <child link="right_camera_optical_frame"/>
  </joint>
  <link name="right_camera_optical_frame"/>
  <gazebo reference="right_camera_frame">
    <sensor name="right_camera_sensor" type="camera">
      <!-- update rate based on spec sheet for 2mp 15fps -->
      <update_rate>15.0</update_rate>
      <camera>
        <!-- hfov based on spec sheet, 80 degrees X 45 degrees -->
        <!-- for resolution of 2048 x 1088, we have non-unity aspect ratio -->
        <!-- but gazebo will violate the vertical fov for now to keep aspect ratio of 1 -->
        <horizontal_fov>1.3962634</horizontal_fov>
        <image>
          <width>2048</width>
          <height>1088</height>
          <format>R8G8B8</format>
        </image>
        <clip>
          <near>0.02</near>
          <far>100</far>
        </clip>
      </camera>
      <plugin filename="libgazebo_ros_camera.so" name="right_camera_controller">
        <alwaysOn>true</alwaysOn>
        <!-- update rate based on spec sheet for 2mp 15fps -->
        <updateRate>15.0</updateRate>
        <cameraName>multisense/right</cameraName>
        <imageTopicName>image_raw</imageTopicName>
        <cameraInfoTopicName>camera_info</cameraInfoTopicName>
        <frameName>left_camera_optical_frame</frameName>
        <hackBaseline>0.07</hackBaseline>
        <distortionK1>0.0</distortionK1>
        <distortionK2>0.0</distortionK2>
        <distortionK3>0.0</distortionK3>
        <distortionT1>0.0</distortionT1>
        <distortionT2>0.0</distortionT2>
      </plugin>
    </sensor>
  </gazebo>
  <joint name="center_top_led_frame_joint" type="fixed">
    <origin xyz="0.01125 0.0 0.0105"/>
    <parent link="head"/>
    <child link="center_top_led_frame"/>
  </joint>
  <link name="center_top_led_frame">
    <inertial>
      <mass value="0.1"/>
      <origin xyz="0 0 0"/>
      <inertia ixx="0.001" ixy="0.0" ixz="0.0" iyy="0.001" iyz="0.0" izz="0.001"/>
    </inertial>
  </link>
  <joint name="center_bottom_led_frame_joint" type="fixed">
    <origin xyz="0.01125 0.0 -0.0155"/>
    <parent link="head"/>
    <child link="center_bottom_led_frame"/>
  </joint>
  <link name="center_bottom_led_frame">
    <inertial>
      <mass value="0.1"/>
      <origin xyz="0 0 0"/>
      <inertia ixx="0.001" ixy="0.0" ixz="0.0" iyy="0.001" iyz="0.0" izz="0.001"/>
    </inertial>
  </link>
  <joint name="left_led_frame_joint" type="fixed">
    <origin rpy="0 -0.15 0.53" xyz="-0.01443 0.07452 0.050346"/>
    <parent link="head"/>
    <child link="left_led_frame"/>
  </joint>
  <link name="left_led_frame">
    <inertial>
      <mass value="0.1"/>
      <origin xyz="0 0 0"/>
      <inertia ixx="0.001" ixy="0.0" ixz="0.0" iyy="0.001" iyz="0.0" izz="0.001"/>
    </inertial>
  </link>
  <joint name="right_led_frame_joint" type="fixed">
    <origin rpy="0 -0.15 -0.53" xyz="-0.01443 -0.07452 0.050346"/>
    <parent link="head"/>
    <child link="right_led_frame"/>
  </joint>
  <link name="right_led_frame">
    <inertial>
      <mass value="0.1"/>
      <origin xyz="0 0 0"/>
      <inertia ixx="0.001" ixy="0.0" ixz="0.0" iyy="0.001" iyz="0.0" izz="0.001"/>
    </inertial>
  </link>
  <gazebo reference="r_foot">
    <!-- contact sensor -->
    <sensor name="r_foot_contact_sensor" type="contact">
      <update_rate>1000.0</update_rate>
      <always_on>1</always_on>
      <contact>
        <topic>/r_foot_contact</topic>
      </contact>
    </sensor>
  </gazebo>
  <gazebo reference="l_foot">
    <!-- contact sensor -->
    <sensor name="l_foot_contact_sensor" type="contact">
      <update_rate>1000.0</update_rate>
      <always_on>1</always_on>
      <contact>
        <topic>/l_foot_contact</topic>
      </contact>
    </sensor>
  </gazebo>
  <transmission name="head_hokuyo_trans" type="pr2_mechanism_model/SimpleTransmission">
    <joint name="hokuyo_joint"/>
    <actuator name="hokuyo_motor"/>
    <mechanicalReduction>1</mechanicalReduction>
  </transmission>
  <transmission name="back_bkz_trans" type="pr2_mechanism_model/SimpleTransmission">
    <joint name="back_bkz"/>
    <actuator name="back_bkz_motor"/>
    <mechanicalReduction>1</mechanicalReduction>
  </transmission>
  <transmission name="back_bky_trans" type="pr2_mechanism_model/SimpleTransmission">
    <actuator name="back_bky_motor"/>
    <joint name="back_bky"/>
    <mechanicalReduction>1</mechanicalReduction>
  </transmission>
  <transmission name="back_bkx_trans" type="pr2_mechanism_model/SimpleTransmission">
    <actuator name="back_bkx_motor"/>
    <joint name="back_bkx"/>
    <mechanicalReduction>1</mechanicalReduction>
  </transmission>
  <transmission name="l_arm_elx_trans" type="pr2_mechanism_model/SimpleTransmission">
    <actuator name="l_arm_elx_motor"/>
    <joint name="l_arm_elx"/>
    <mechanicalReduction>1</mechanicalReduction>
  </transmission>
  <transmission name="l_arm_ely_trans" type="pr2_mechanism_model/SimpleTransmission">
    <actuator name="l_arm_ely_motor"/>
    <joint name="l_arm_ely"/>
    <mechanicalReduction>1</mechanicalReduction>
  </transmission>
  <transmission name="l_arm_mwx_trans" type="pr2_mechanism_model/SimpleTransmission">
    <actuator name="l_arm_mwx_motor"/>
    <joint name="l_arm_mwx"/>
    <mechanicalReduction>1</mechanicalReduction>
  </transmission>
  <transmission name="l_arm_shx_trans" type="pr2_mechanism_model/SimpleTransmission">
    <actuator name="l_arm_shx_motor"/>
    <joint name="l_arm_shx"/>
    <mechanicalReduction>1</mechanicalReduction>
  </transmission>
  <transmission name="l_arm_shz_trans" type="pr2_mechanism_model/SimpleTransmission">
    <actuator name="l_arm_shz_motor"/>
    <joint name="l_arm_shz"/>
    <mechanicalReduction>1</mechanicalReduction>
  </transmission>
  <transmission name="l_arm_uwy_trans" type="pr2_mechanism_model/SimpleTransmission">
    <actuator name="l_arm_uwy_motor"/>
    <joint name="l_arm_uwy"/>
    <mechanicalReduction>1</mechanicalReduction>
  </transmission>
  <transmission name="l_arm_lwy_trans" type="pr2_mechanism_model/SimpleTransmission">
    <actuator name="l_arm_lwy_motor"/>
    <joint name="l_arm_lwy"/>
    <mechanicalReduction>1</mechanicalReduction>
  </transmission>
  <transmission name="l_leg_kny_trans" type="pr2_mechanism_model/SimpleTransmission">
    <actuator name="l_leg_kny_motor"/>
    <joint name="l_leg_kny"/>
    <mechanicalReduction>1</mechanicalReduction>
  </transmission>
  <transmission name="l_leg_akx_trans" type="pr2_mechanism_model/SimpleTransmission">
    <actuator name="l_leg_akx_motor"/>
    <joint name="l_leg_akx"/>
    <mechanicalReduction>1</mechanicalReduction>
  </transmission>
  <transmission name="l_leg_hpy_trans" type="pr2_mechanism_model/SimpleTransmission">
    <actuator name="l_leg_hpy_motor"/>
    <joint name="l_leg_hpy"/>
    <mechanicalReduction>1</mechanicalReduction>
  </transmission>
  <transmission name="l_leg_hpx_trans" type="pr2_mechanism_model/SimpleTransmission">
    <actuator name="l_leg_hpx_motor"/>
    <joint name="l_leg_hpx"/>
    <mechanicalReduction>1</mechanicalReduction>
  </transmission>
  <transmission name="l_leg_aky_trans" type="pr2_mechanism_model/SimpleTransmission">
    <actuator name="l_leg_aky_motor"/>
    <joint name="l_leg_aky"/>
    <mechanicalReduction>1</mechanicalReduction>
  </transmission>
  <transmission name="l_leg_hpz_trans" type="pr2_mechanism_model/SimpleTransmission">
    <actuator name="l_leg_hpz_motor"/>
    <joint name="l_leg_hpz"/>
    <mechanicalReduction>1</mechanicalReduction>
  </transmission>
  <transmission name="neck_ay_trans" type="pr2_mechanism_model/SimpleTransmission">
    <actuator name="neck_ay_motor"/>
    <joint name="neck_ay"/>
    <mechanicalReduction>1</mechanicalReduction>
  </transmission>
  <transmission name="r_arm_elx_trans" type="pr2_mechanism_model/SimpleTransmission">
    <actuator name="r_arm_elx_motor"/>
    <joint name="r_arm_elx"/>
    <mechanicalReduction>1</mechanicalReduction>
  </transmission>
  <transmission name="r_arm_ely_trans" type="pr2_mechanism_model/SimpleTransmission">
    <actuator name="r_arm_ely_motor"/>
    <joint name="r_arm_ely"/>
    <mechanicalReduction>1</mechanicalReduction>
  </transmission>
  <transmission name="r_arm_mwx_trans" type="pr2_mechanism_model/SimpleTransmission">
    <actuator name="r_arm_mwx_motor"/>
    <joint name="r_arm_mwx"/>
    <mechanicalReduction>1</mechanicalReduction>
  </transmission>
  <transmission name="r_arm_shx_trans" type="pr2_mechanism_model/SimpleTransmission">
    <actuator name="r_arm_shx_motor"/>
    <joint name="r_arm_shx"/>
    <mechanicalReduction>1</mechanicalReduction>
  </transmission>
  <transmission name="r_arm_shz_trans" type="pr2_mechanism_model/SimpleTransmission">
    <actuator name="r_arm_shz_motor"/>
    <joint name="r_arm_shz"/>
    <mechanicalReduction>1</mechanicalReduction>
  </transmission>
  <transmission name="r_arm_uwy_trans" type="pr2_mechanism_model/SimpleTransmission">
    <actuator name="r_arm_uwy_motor"/>
    <joint name="r_arm_uwy"/>
    <mechanicalReduction>1</mechanicalReduction>
  </transmission>
  <transmission name="r_arm_lwy_trans" type="pr2_mechanism_model/SimpleTransmission">
    <actuator name="r_arm_lwy_motor"/>
    <joint name="r_arm_lwy"/>
    <mechanicalReduction>1</mechanicalReduction>
  </transmission>
  <transmission name="r_leg_kny_trans" type="pr2_mechanism_model/SimpleTransmission">
    <actuator name="r_leg_kny_motor"/>
    <joint name="r_leg_kny"/>
    <mechanicalReduction>1</mechanicalReduction>
  </transmission>
  <transmission name="r_leg_akx_trans" type="pr2_mechanism_model/SimpleTransmission">
    <actuator name="r_leg_akx_motor"/>
    <joint name="r_leg_akx"/>
    <mechanicalReduction>1</mechanicalReduction>
  </transmission>
  <transmission name="r_leg_hpy_trans" type="pr2_mechanism_model/SimpleTransmission">
    <actuator name="r_leg_hpy_motor"/>
    <joint name="r_leg_hpy"/>
    <mechanicalReduction>1</mechanicalReduction>
  </transmission>
  <transmission name="r_leg_hpx_trans" type="pr2_mechanism_model/SimpleTransmission">
    <actuator name="r_leg_hpx_motor"/>
    <joint name="r_leg_hpx"/>
    <mechanicalReduction>1</mechanicalReduction>
  </transmission>
  <transmission name="r_leg_aky_trans" type="pr2_mechanism_model/SimpleTransmission">
    <actuator name="r_leg_aky_motor"/>
    <joint name="r_leg_aky"/>
    <mechanicalReduction>1</mechanicalReduction>
  </transmission>
  <transmission name="r_leg_hpz_trans" type="pr2_mechanism_model/SimpleTransmission">
    <actuator name="r_leg_hpz_motor"/>
    <joint name="r_leg_hpz"/>
    <mechanicalReduction>1</mechanicalReduction>
  </transmission>
  <link name="l_hand_force_torque">
    <inertial>
      <mass value="0.1"/>
      <origin xyz="0 0 0"/>
      <inertia ixx="0.00001" ixy="0" ixz="0" iyy="0.00001" iyz="0" izz="0.00001"/>
    </inertial>
    <visual>
      <origin rpy="0 0 0" xyz="0 0 0"/>
      <geometry>
        <box size="0.01 0.01 0.01"/>
      </geometry>
    </visual>
  </link>
  <joint name="l_hand_force_torque_joint" type="fixed">
    <origin rpy="0 0 3.141592" xyz="0 -0.1245 0"/>
    <parent link="l_hand"/>
    <child link="l_hand_force_torque"/>
  </joint>
  <link name="r_hand_force_torque">
    <inertial>
      <mass value="0.1"/>
      <origin xyz="0 0 0"/>
      <inertia ixx="0.00001" ixy="0" ixz="0" iyy="0.00001" iyz="0" izz="0.00001"/>
    </inertial>
    <visual>
      <origin rpy="0 0 0" xyz="0 0 0"/>
      <geometry>
        <box size="0.01 0.01 0.01"/>
      </geometry>
    </visual>
  </link>
  <joint name="r_hand_force_torque_joint" type="fixed">
    <origin rpy="0 0 3.141592" xyz="0 -0.1245 0"/>
    <parent link="r_hand"/>
    <child link="r_hand_force_torque"/>
  </joint>
  <!-- Set the initial hand position and orientation by changing 'rpy' and 'xyz'
  to mach the values in your actual robot. -->
  <joint name="left_robotiq_hand_joint" type="fixed">
    <origin rpy="0 -1.57079 0" xyz="0 0.06566 0.0"/>
    <parent link="l_hand_force_torque"/>
    <child link="left_palm"/>
  </joint>
  <link name="left_finger_1_link_0">
    <visual>
      <origin rpy="0 0 0" xyz="0.020 0 0"/>
      <geometry>
        <mesh filename="package://robotiq_hand_description/meshes/s-model_articulated/visual/link_0.obj"/>
      </geometry>
      <material name="green">
        <color rgba="0 1 0 1"/>
      </material>
    </visual>
    <collision>
      <origin rpy="0 3.1416 -1.57" xyz="-0.0455 0.0414 0.036"/>
      <geometry>
        <mesh filename="package://robotiq_hand_description/meshes/s-model_articulated/collision/link_0_chull.obj"/>
      </geometry>
      <material name="yellow">
        <color rgba="0 1 1 1"/>
      </material>
    </collision>
  </link>
  <link name="left_finger_1_link_1">
    <visual>
      <origin rpy="0 0 -0.52" xyz="0.050 -.028 0"/>
      <geometry>
        <mesh filename="package://robotiq_hand_description/meshes/s-model_articulated/visual/link_1.obj"/>
      </geometry>
      <material name="green"/>
    </visual>
    <collision>
      <origin rpy="0 0 -0.52" xyz="0.050 -.028 0"/>
      <geometry>
        <mesh filename="package://robotiq_hand_description/meshes/s-model_articulated/collision/link_1_chull.obj"/>
      </geometry>
      <material name="yellow"/>
    </collision>
  </link>
  <link name="left_finger_1_link_2">
    <!--
			NOTE: This link has an offset in the z-direction based on the models that were
			used to generate grap-it poses.  With the offset below the model appears visually
			correct, but it is suspect.
			-->
    <visual>
      <origin rpy="0 0 0" xyz="0.039 0 0.0075"/>
      <geometry>
        <mesh filename="package://robotiq_hand_description/meshes/s-model_articulated/visual/link_2.obj"/>
      </geometry>
      <material name="green"/>
    </visual>
    <collision>
      <origin rpy="0 0 0" xyz="0.039 0 0.0075"/>
      <geometry>
        <mesh filename="package://robotiq_hand_description/meshes/s-model_articulated/collision/link_2_chull.obj"/>
      </geometry>
      <material name="yellow"/>
    </collision>
  </link>
  <link name="left_finger_1_link_3">
    <visual>
      <origin rpy="0 0 0.52" xyz="0 0 0"/>
      <geometry>
        <mesh filename="package://robotiq_hand_description/meshes/s-model_articulated/visual/link_3.obj"/>
      </geometry>
      <material name="green"/>
    </visual>
    <collision>
      <origin rpy="0 0 0.52" xyz="0 0 0"/>
      <geometry>
        <mesh filename="package://robotiq_hand_description/meshes/s-model_articulated/collision/link_3_chull.obj"/>
      </geometry>
      <material name="yellow"/>
    </collision>
  </link>
  <joint name="left_finger_1_joint_1" type="fixed">
    <parent link="left_finger_1_link_0"/>
    <child link="left_finger_1_link_1"/>
    <axis xyz="0 0 1"/>
    <origin rpy="0 0 0" xyz="0.020 0 0"/>
    <limit effort="100" lower="0" upper="3.1416" velocity="100"/>
  </joint>
  <joint name="left_finger_1_joint_2" type="fixed">
    <parent link="left_finger_1_link_1"/>
    <child link="left_finger_1_link_2"/>
    <axis xyz="0 0 1"/>
    <origin rpy="0 0 -0.52" xyz="0.050 -.028 0"/>
    <limit effort="100" lower="0" upper="3.1416" velocity="100"/>
  </joint>
  <joint name="left_finger_1_joint_3" type="fixed">
    <parent link="left_finger_1_link_2"/>
    <child link="left_finger_1_link_3"/>
    <axis xyz="0 0 1"/>
    <origin rpy="0 0 0" xyz="0.039 0 0"/>
    <limit effort="100" lower="0" upper="3.1416" velocity="100"/>
  </joint>
  <link name="left_finger_2_link_0">
    <visual>
      <origin rpy="0 0 0" xyz="0.020 0 0"/>
      <geometry>
        <mesh filename="package://robotiq_hand_description/meshes/s-model_articulated/visual/link_0.obj"/>
      </geometry>
      <material name="green">
        <color rgba="0 1 0 1"/>
      </material>
    </visual>
    <collision>
      <origin rpy="0 3.1416 -1.57" xyz="-0.0455 0.0414 0.036"/>
      <geometry>
        <mesh filename="package://robotiq_hand_description/meshes/s-model_articulated/collision/link_0_chull.obj"/>
      </geometry>
      <material name="yellow">
        <color rgba="0 1 1 1"/>
      </material>
    </collision>
  </link>
  <link name="left_finger_2_link_1">
    <visual>
      <origin rpy="0 0 -0.52" xyz="0.050 -.028 0"/>
      <geometry>
        <mesh filename="package://robotiq_hand_description/meshes/s-model_articulated/visual/link_1.obj"/>
      </geometry>
      <material name="green"/>
    </visual>
    <collision>
      <origin rpy="0 0 -0.52" xyz="0.050 -.028 0"/>
      <geometry>
        <mesh filename="package://robotiq_hand_description/meshes/s-model_articulated/collision/link_1_chull.obj"/>
      </geometry>
      <material name="yellow"/>
    </collision>
  </link>
  <link name="left_finger_2_link_2">
    <!--
			NOTE: This link has an offset in the z-direction based on the models that were
			used to generate grap-it poses.  With the offset below the model appears visually
			correct, but it is suspect.
			-->
    <visual>
      <origin rpy="0 0 0" xyz="0.039 0 0.0075"/>
      <geometry>
        <mesh filename="package://robotiq_hand_description/meshes/s-model_articulated/visual/link_2.obj"/>
      </geometry>
      <material name="green"/>
    </visual>
    <collision>
      <origin rpy="0 0 0" xyz="0.039 0 0.0075"/>
      <geometry>
        <mesh filename="package://robotiq_hand_description/meshes/s-model_articulated/collision/link_2_chull.obj"/>
      </geometry>
      <material name="yellow"/>
    </collision>
  </link>
  <link name="left_finger_2_link_3">
    <visual>
      <origin rpy="0 0 0.52" xyz="0 0 0"/>
      <geometry>
        <mesh filename="package://robotiq_hand_description/meshes/s-model_articulated/visual/link_3.obj"/>
      </geometry>
      <material name="green"/>
    </visual>
    <collision>
      <origin rpy="0 0 0.52" xyz="0 0 0"/>
      <geometry>
        <mesh filename="package://robotiq_hand_description/meshes/s-model_articulated/collision/link_3_chull.obj"/>
      </geometry>
      <material name="yellow"/>
    </collision>
  </link>
  <joint name="left_finger_2_joint_1" type="fixed">
    <parent link="left_finger_2_link_0"/>
    <child link="left_finger_2_link_1"/>
    <axis xyz="0 0 1"/>
    <origin rpy="0 0 0" xyz="0.020 0 0"/>
    <limit effort="100" lower="0" upper="3.1416" velocity="100"/>
  </joint>
  <joint name="left_finger_2_joint_2" type="fixed">
    <parent link="left_finger_2_link_1"/>
    <child link="left_finger_2_link_2"/>
    <axis xyz="0 0 1"/>
    <origin rpy="0 0 -0.52" xyz="0.050 -.028 0"/>
    <limit effort="100" lower="0" upper="3.1416" velocity="100"/>
  </joint>
  <joint name="left_finger_2_joint_3" type="fixed">
    <parent link="left_finger_2_link_2"/>
    <child link="left_finger_2_link_3"/>
    <axis xyz="0 0 1"/>
    <origin rpy="0 0 0" xyz="0.039 0 0"/>
    <limit effort="100" lower="0" upper="3.1416" velocity="100"/>
  </joint>
  <link name="left_finger_middle_link_0">
    <visual>
      <origin rpy="0 0 0" xyz="0.020 0 0"/>
      <geometry>
        <mesh filename="package://robotiq_hand_description/meshes/s-model_articulated/visual/link_0.obj"/>
      </geometry>
      <material name="green">
        <color rgba="0 1 0 1"/>
      </material>
    </visual>
    <collision>
      <origin rpy="0 3.1416 -1.57" xyz="-0.0455 0.0414 0.036"/>
      <geometry>
        <mesh filename="package://robotiq_hand_description/meshes/s-model_articulated/collision/link_0_chull.obj"/>
      </geometry>
      <material name="yellow">
        <color rgba="0 1 1 1"/>
      </material>
    </collision>
  </link>
  <link name="left_finger_middle_link_1">
    <visual>
      <origin rpy="0 0 -0.52" xyz="0.050 -.028 0"/>
      <geometry>
        <mesh filename="package://robotiq_hand_description/meshes/s-model_articulated/visual/link_1.obj"/>
      </geometry>
      <material name="green"/>
    </visual>
    <collision>
      <origin rpy="0 0 -0.52" xyz="0.050 -.028 0"/>
      <geometry>
        <mesh filename="package://robotiq_hand_description/meshes/s-model_articulated/collision/link_1_chull.obj"/>
      </geometry>
      <material name="yellow"/>
    </collision>
  </link>
  <link name="left_finger_middle_link_2">
    <!--
			NOTE: This link has an offset in the z-direction based on the models that were
			used to generate grap-it poses.  With the offset below the model appears visually
			correct, but it is suspect.
			-->
    <visual>
      <origin rpy="0 0 0" xyz="0.039 0 0.0075"/>
      <geometry>
        <mesh filename="package://robotiq_hand_description/meshes/s-model_articulated/visual/link_2.obj"/>
      </geometry>
      <material name="green"/>
    </visual>
    <collision>
      <origin rpy="0 0 0" xyz="0.039 0 0.0075"/>
      <geometry>
        <mesh filename="package://robotiq_hand_description/meshes/s-model_articulated/collision/link_2_chull.obj"/>
      </geometry>
      <material name="yellow"/>
    </collision>
  </link>
  <link name="left_finger_middle_link_3">
    <visual>
      <origin rpy="0 0 0.52" xyz="0 0 0"/>
      <geometry>
        <mesh filename="package://robotiq_hand_description/meshes/s-model_articulated/visual/link_3.obj"/>
      </geometry>
      <material name="green"/>
    </visual>
    <collision>
      <origin rpy="0 0 0.52" xyz="0 0 0"/>
      <geometry>
        <mesh filename="package://robotiq_hand_description/meshes/s-model_articulated/collision/link_3_chull.obj"/>
      </geometry>
      <material name="yellow"/>
    </collision>
  </link>
  <joint name="left_finger_middle_joint_1" type="fixed">
    <parent link="left_finger_middle_link_0"/>
    <child link="left_finger_middle_link_1"/>
    <axis xyz="0 0 1"/>
    <origin rpy="0 0 0" xyz="0.020 0 0"/>
    <limit effort="100" lower="0" upper="3.1416" velocity="100"/>
  </joint>
  <joint name="left_finger_middle_joint_2" type="fixed">
    <parent link="left_finger_middle_link_1"/>
    <child link="left_finger_middle_link_2"/>
    <axis xyz="0 0 1"/>
    <origin rpy="0 0 -0.52" xyz="0.050 -.028 0"/>
    <limit effort="100" lower="0" upper="3.1416" velocity="100"/>
  </joint>
  <joint name="left_finger_middle_joint_3" type="fixed">
    <parent link="left_finger_middle_link_2"/>
    <child link="left_finger_middle_link_3"/>
    <axis xyz="0 0 1"/>
    <origin rpy="0 0 0" xyz="0.039 0 0"/>
    <limit effort="100" lower="0" upper="3.1416" velocity="100"/>
  </joint>
  <link name="left_palm">
    <visual>
      <geometry>
        <mesh filename="package://robotiq_hand_description/meshes/s-model_articulated/visual/palm.obj"/>
      </geometry>
      <material name="green">
        <color rgba="0 1 0 1"/>
      </material>
    </visual>
    <collision>
      <geometry>
        <mesh filename="package://robotiq_hand_description/meshes/s-model_articulated/collision/palm_chull.obj"/>
      </geometry>
      <material name="yellow">
        <color rgba="0 1 1 1"/>
      </material>
    </collision>
  </link>
  <joint name="left_palm_finger_1_joint" type="fixed">
    <parent link="left_palm"/>
    <child link="left_finger_1_link_0"/>
    <axis xyz="0 1 0"/>
    <origin rpy="0 3.1416 -1.57" xyz="-0.0455 0.0214 0.036"/>
    <limit effort="100" lower="-0.16" upper="0.25" velocity="100"/>
  </joint>
  <joint name="left_palm_finger_2_joint" type="fixed">
    <parent link="left_palm"/>
    <child link="left_finger_2_link_0"/>
    <axis xyz="0 1 0"/>
    <origin rpy="0 3.1416 -1.57" xyz="-0.0455 0.0214 -0.036"/>
    <limit effort="100" lower="-0.25" upper="0.16" velocity="100"/>
  </joint>
  <joint name="left_palm_finger_middle_joint" type="fixed">
    <parent link="left_palm"/>
    <child link="left_finger_middle_link_0"/>
    <axis xyz="0 0 1"/>
    <origin rpy="0 0 1.57" xyz="0.0455 0.0214 0"/>
  </joint>
  <joint name="right_robotiq_hand_joint" type="fixed">
    <origin rpy="0 -1.57079 0" xyz="0 0.06566 0.0"/>
    <parent link="r_hand_force_torque"/>
    <child link="right_palm"/>
  </joint>
  <link name="right_finger_1_link_0">
    <visual>
      <origin rpy="0 0 0" xyz="0.020 0 0"/>
      <geometry>
        <mesh filename="package://robotiq_hand_description/meshes/s-model_articulated/visual/link_0.obj"/>
      </geometry>
      <material name="green">
        <color rgba="0 1 0 1"/>
      </material>
    </visual>
    <collision>
      <origin rpy="0 3.1416 -1.57" xyz="-0.0455 0.0414 0.036"/>
      <geometry>
        <mesh filename="package://robotiq_hand_description/meshes/s-model_articulated/collision/link_0_chull.obj"/>
      </geometry>
      <material name="yellow">
        <color rgba="0 1 1 1"/>
      </material>
    </collision>
  </link>
  <link name="right_finger_1_link_1">
    <visual>
      <origin rpy="0 0 -0.52" xyz="0.050 -.028 0"/>
      <geometry>
        <mesh filename="package://robotiq_hand_description/meshes/s-model_articulated/visual/link_1.obj"/>
      </geometry>
      <material name="green"/>
    </visual>
    <collision>
      <origin rpy="0 0 -0.52" xyz="0.050 -.028 0"/>
      <geometry>
        <mesh filename="package://robotiq_hand_description/meshes/s-model_articulated/collision/link_1_chull.obj"/>
      </geometry>
      <material name="yellow"/>
    </collision>
  </link>
  <link name="right_finger_1_link_2">
    <!--
			NOTE: This link has an offset in the z-direction based on the models that were
			used to generate grap-it poses.  With the offset below the model appears visually
			correct, but it is suspect.
			-->
    <visual>
      <origin rpy="0 0 0" xyz="0.039 0 0.0075"/>
      <geometry>
        <mesh filename="package://robotiq_hand_description/meshes/s-model_articulated/visual/link_2.obj"/>
      </geometry>
      <material name="green"/>
    </visual>
    <collision>
      <origin rpy="0 0 0" xyz="0.039 0 0.0075"/>
      <geometry>
        <mesh filename="package://robotiq_hand_description/meshes/s-model_articulated/collision/link_2_chull.obj"/>
      </geometry>
      <material name="yellow"/>
    </collision>
  </link>
  <link name="right_finger_1_link_3">
    <visual>
      <origin rpy="0 0 0.52" xyz="0 0 0"/>
      <geometry>
        <mesh filename="package://robotiq_hand_description/meshes/s-model_articulated/visual/link_3.obj"/>
      </geometry>
      <material name="green"/>
    </visual>
    <collision>
      <origin rpy="0 0 0.52" xyz="0 0 0"/>
      <geometry>
        <mesh filename="package://robotiq_hand_description/meshes/s-model_articulated/collision/link_3_chull.obj"/>
      </geometry>
      <material name="yellow"/>
    </collision>
  </link>
  <joint name="right_finger_1_joint_1" type="fixed">
    <parent link="right_finger_1_link_0"/>
    <child link="right_finger_1_link_1"/>
    <axis xyz="0 0 1"/>
    <origin rpy="0 0 0" xyz="0.020 0 0"/>
    <limit effort="100" lower="0" upper="3.1416" velocity="100"/>
  </joint>
  <joint name="right_finger_1_joint_2" type="fixed">
    <parent link="right_finger_1_link_1"/>
    <child link="right_finger_1_link_2"/>
    <axis xyz="0 0 1"/>
    <origin rpy="0 0 -0.52" xyz="0.050 -.028 0"/>
    <limit effort="100" lower="0" upper="3.1416" velocity="100"/>
  </joint>
  <joint name="right_finger_1_joint_3" type="fixed">
    <parent link="right_finger_1_link_2"/>
    <child link="right_finger_1_link_3"/>
    <axis xyz="0 0 1"/>
    <origin rpy="0 0 0" xyz="0.039 0 0"/>
    <limit effort="100" lower="0" upper="3.1416" velocity="100"/>
  </joint>
  <link name="right_finger_2_link_0">
    <visual>
      <origin rpy="0 0 0" xyz="0.020 0 0"/>
      <geometry>
        <mesh filename="package://robotiq_hand_description/meshes/s-model_articulated/visual/link_0.obj"/>
      </geometry>
      <material name="green">
        <color rgba="0 1 0 1"/>
      </material>
    </visual>
    <collision>
      <origin rpy="0 3.1416 -1.57" xyz="-0.0455 0.0414 0.036"/>
      <geometry>
        <mesh filename="package://robotiq_hand_description/meshes/s-model_articulated/collision/link_0_chull.obj"/>
      </geometry>
      <material name="yellow">
        <color rgba="0 1 1 1"/>
      </material>
    </collision>
  </link>
  <link name="right_finger_2_link_1">
    <visual>
      <origin rpy="0 0 -0.52" xyz="0.050 -.028 0"/>
      <geometry>
        <mesh filename="package://robotiq_hand_description/meshes/s-model_articulated/visual/link_1.obj"/>
      </geometry>
      <material name="green"/>
    </visual>
    <collision>
      <origin rpy="0 0 -0.52" xyz="0.050 -.028 0"/>
      <geometry>
        <mesh filename="package://robotiq_hand_description/meshes/s-model_articulated/collision/link_1_chull.obj"/>
      </geometry>
      <material name="yellow"/>
    </collision>
  </link>
  <link name="right_finger_2_link_2">
    <!--
			NOTE: This link has an offset in the z-direction based on the models that were
			used to generate grap-it poses.  With the offset below the model appears visually
			correct, but it is suspect.
			-->
    <visual>
      <origin rpy="0 0 0" xyz="0.039 0 0.0075"/>
      <geometry>
        <mesh filename="package://robotiq_hand_description/meshes/s-model_articulated/visual/link_2.obj"/>
      </geometry>
      <material name="green"/>
    </visual>
    <collision>
      <origin rpy="0 0 0" xyz="0.039 0 0.0075"/>
      <geometry>
        <mesh filename="package://robotiq_hand_description/meshes/s-model_articulated/collision/link_2_chull.obj"/>
      </geometry>
      <material name="yellow"/>
    </collision>
  </link>
  <link name="right_finger_2_link_3">
    <visual>
      <origin rpy="0 0 0.52" xyz="0 0 0"/>
      <geometry>
        <mesh filename="package://robotiq_hand_description/meshes/s-model_articulated/visual/link_3.obj"/>
      </geometry>
      <material name="green"/>
    </visual>
    <collision>
      <origin rpy="0 0 0.52" xyz="0 0 0"/>
      <geometry>
        <mesh filename="package://robotiq_hand_description/meshes/s-model_articulated/collision/link_3_chull.obj"/>
      </geometry>
      <material name="yellow"/>
    </collision>
  </link>
  <joint name="right_finger_2_joint_1" type="fixed">
    <parent link="right_finger_2_link_0"/>
    <child link="right_finger_2_link_1"/>
    <axis xyz="0 0 1"/>
    <origin rpy="0 0 0" xyz="0.020 0 0"/>
    <limit effort="100" lower="0" upper="3.1416" velocity="100"/>
  </joint>
  <joint name="right_finger_2_joint_2" type="fixed">
    <parent link="right_finger_2_link_1"/>
    <child link="right_finger_2_link_2"/>
    <axis xyz="0 0 1"/>
    <origin rpy="0 0 -0.52" xyz="0.050 -.028 0"/>
    <limit effort="100" lower="0" upper="3.1416" velocity="100"/>
  </joint>
  <joint name="right_finger_2_joint_3" type="fixed">
    <parent link="right_finger_2_link_2"/>
    <child link="right_finger_2_link_3"/>
    <axis xyz="0 0 1"/>
    <origin rpy="0 0 0" xyz="0.039 0 0"/>
    <limit effort="100" lower="0" upper="3.1416" velocity="100"/>
  </joint>
  <link name="right_finger_middle_link_0">
    <visual>
      <origin rpy="0 0 0" xyz="0.020 0 0"/>
      <geometry>
        <mesh filename="package://robotiq_hand_description/meshes/s-model_articulated/visual/link_0.obj"/>
      </geometry>
      <material name="green">
        <color rgba="0 1 0 1"/>
      </material>
    </visual>
    <collision>
      <origin rpy="0 3.1416 -1.57" xyz="-0.0455 0.0414 0.036"/>
      <geometry>
        <mesh filename="package://robotiq_hand_description/meshes/s-model_articulated/collision/link_0_chull.obj"/>
      </geometry>
      <material name="yellow">
        <color rgba="0 1 1 1"/>
      </material>
    </collision>
  </link>
  <link name="right_finger_middle_link_1">
    <visual>
      <origin rpy="0 0 -0.52" xyz="0.050 -.028 0"/>
      <geometry>
        <mesh filename="package://robotiq_hand_description/meshes/s-model_articulated/visual/link_1.obj"/>
      </geometry>
      <material name="green"/>
    </visual>
    <collision>
      <origin rpy="0 0 -0.52" xyz="0.050 -.028 0"/>
      <geometry>
        <mesh filename="package://robotiq_hand_description/meshes/s-model_articulated/collision/link_1_chull.obj"/>
      </geometry>
      <material name="yellow"/>
    </collision>
  </link>
  <link name="right_finger_middle_link_2">
    <!--
			NOTE: This link has an offset in the z-direction based on the models that were
			used to generate grap-it poses.  With the offset below the model appears visually
			correct, but it is suspect.
			-->
    <visual>
      <origin rpy="0 0 0" xyz="0.039 0 0.0075"/>
      <geometry>
        <mesh filename="package://robotiq_hand_description/meshes/s-model_articulated/visual/link_2.obj"/>
      </geometry>
      <material name="green"/>
    </visual>
    <collision>
      <origin rpy="0 0 0" xyz="0.039 0 0.0075"/>
      <geometry>
        <mesh filename="package://robotiq_hand_description/meshes/s-model_articulated/collision/link_2_chull.obj"/>
      </geometry>
      <material name="yellow"/>
    </collision>
  </link>
  <link name="right_finger_middle_link_3">
    <visual>
      <origin rpy="0 0 0.52" xyz="0 0 0"/>
      <geometry>
        <mesh filename="package://robotiq_hand_description/meshes/s-model_articulated/visual/link_3.obj"/>
      </geometry>
      <material name="green"/>
    </visual>
    <collision>
      <origin rpy="0 0 0.52" xyz="0 0 0"/>
      <geometry>
        <mesh filename="package://robotiq_hand_description/meshes/s-model_articulated/collision/link_3_chull.obj"/>
      </geometry>
      <material name="yellow"/>
    </collision>
  </link>
  <joint name="right_finger_middle_joint_1" type="fixed">
    <parent link="right_finger_middle_link_0"/>
    <child link="right_finger_middle_link_1"/>
    <axis xyz="0 0 1"/>
    <origin rpy="0 0 0" xyz="0.020 0 0"/>
    <limit effort="100" lower="0" upper="3.1416" velocity="100"/>
  </joint>
  <joint name="right_finger_middle_joint_2" type="fixed">
    <parent link="right_finger_middle_link_1"/>
    <child link="right_finger_middle_link_2"/>
    <axis xyz="0 0 1"/>
    <origin rpy="0 0 -0.52" xyz="0.050 -.028 0"/>
    <limit effort="100" lower="0" upper="3.1416" velocity="100"/>
  </joint>
  <joint name="right_finger_middle_joint_3" type="fixed">
    <parent link="right_finger_middle_link_2"/>
    <child link="right_finger_middle_link_3"/>
    <axis xyz="0 0 1"/>
    <origin rpy="0 0 0" xyz="0.039 0 0"/>
    <limit effort="100" lower="0" upper="3.1416" velocity="100"/>
  </joint>
  <link name="right_palm">
    <visual>
      <geometry>
        <mesh filename="package://robotiq_hand_description/meshes/s-model_articulated/visual/palm.obj"/>
      </geometry>
      <material name="green">
        <color rgba="0 1 0 1"/>
      </material>
    </visual>
    <collision>
      <geometry>
        <mesh filename="package://robotiq_hand_description/meshes/s-model_articulated/collision/palm_chull.obj"/>
      </geometry>
      <material name="yellow">
        <color rgba="0 1 1 1"/>
      </material>
    </collision>
  </link>
  <joint name="right_palm_finger_1_joint" type="fixed">
    <parent link="right_palm"/>
    <child link="right_finger_1_link_0"/>
    <axis xyz="0 1 0"/>
    <origin rpy="0 3.1416 -1.57" xyz="-0.0455 0.0214 0.036"/>
    <limit effort="100" lower="-0.16" upper="0.25" velocity="100"/>
  </joint>
  <joint name="right_palm_finger_2_joint" type="fixed">
    <parent link="right_palm"/>
    <child link="right_finger_2_link_0"/>
    <axis xyz="0 1 0"/>
    <origin rpy="0 3.1416 -1.57" xyz="-0.0455 0.0214 -0.036"/>
    <limit effort="100" lower="-0.25" upper="0.16" velocity="100"/>
  </joint>
  <joint name="right_palm_finger_middle_joint" type="fixed">
    <parent link="right_palm"/>
    <child link="right_finger_middle_link_0"/>
    <axis xyz="0 0 1"/>
    <origin rpy="0 0 1.57" xyz="0.0455 0.0214 0"/>
  </joint>
  <joint name="l_hand_face_joint" type="fixed">
    <origin rpy="0.0 0.0 0.0" xyz="0 0.12 0"/>
    <parent link="l_hand_force_torque"/>
    <child link="l_hand_face"/>
  </joint>
  <link name="l_hand_face"/>
  <joint name="l_hand_gripper_joint" type="fixed">
    <origin rpy="0.0 0.0 0.0" xyz="0 0.18 0"/>
    <parent link="l_hand_force_torque"/>
    <child link="l_hand_gripper"/>
  </joint>
  <link name="l_hand_gripper"/>
  <link name="l_hand_camera_link"/>
  <joint name="l_hand_camera_joint" type="fixed">
    <parent link="l_hand_force_torque"/>
    <child link="l_hand_camera_link"/>
    <!-- new camera has no inward angle, placeholder is still here in case it is later tilted-->
    <origin rpy=" -1.57079 0  1.5708" xyz="-0.09892  0.01431 0.0"/>
  </joint>
  <joint name="l_hand_camera_optical_frame_joint" type="fixed">
    <origin rpy="-1.57079 0.0 -1.57079" xyz="0 0 0"/>
    <parent link="l_hand_camera_link"/>
    <child link="l_hand_camera_optical_frame"/>
  </joint>
  <link name="l_hand_camera_optical_frame"/>
  <gazebo reference="l_hand_camera_link">
    <sensor name="l_hand_camera_sensor" type="camera">
      <update_rate>10.0</update_rate>
      <camera name="l_hand_camera">
        <pose>0 0 0 0 0 0</pose>
        <!-- m.antone estimate of 2.8mm tamron lense fov -->
        <horizontal_fov>1.7281</horizontal_fov>
        <image>
          <width>1280</width>
          <height>1024</height>
          <format>R8G8B8</format>
        </image>
        <clip>
          <near>0.02</near>
          <far>100</far>
        </clip>
        <noise>
          <type>gaussian</type>
          <!-- Noise is sampled independently per pixel on each frame.
               That pixel's noise value is added to each of its color
               channels, which at that point lie in the range [0,1].
               The stddev value of 0.007 is based on experimental data 
               from a camera in a Sandia hand pointed at a static scene
               in a couple of different lighting conditions.  -->
          <mean>0.0</mean>
          <stddev>0.007</stddev>
        </noise>
      </camera>
      <plugin filename="libgazebo_ros_camera.so" name="l_hand_camera_controller">
        <alwaysOn>true</alwaysOn>
        <updateRate>0.0</updateRate>
        <cameraName>robotiq_hands/l_hand_camera</cameraName>
        <imageTopicName>image_raw</imageTopicName>
        <cameraInfoTopicName>camera_info</cameraInfoTopicName>
        <frameName>l_hand_camera_optical_frame</frameName>
        <hackBaseline>0.07</hackBaseline>
        <distortionK1>0.0</distortionK1>
        <distortionK2>0.0</distortionK2>
        <distortionK3>0.0</distortionK3>
        <distortionT1>0.0</distortionT1>
        <distortionT2>0.0</distortionT2>
      </plugin>
    </sensor>
  </gazebo>
  <joint name="r_hand_face_joint" type="fixed">
    <origin rpy="0.0 0.0 0.0" xyz="0 0.12 0"/>
    <parent link="r_hand_force_torque"/>
    <child link="r_hand_face"/>
  </joint>
  <link name="r_hand_face"/>
  <joint name="r_hand_gripper_joint" type="fixed">
    <origin rpy="0.0 0.0 0.0" xyz="0 0.18 0"/>
    <parent link="r_hand_force_torque"/>
    <child link="r_hand_gripper"/>
  </joint>
  <link name="r_hand_gripper"/>
  <link name="r_hand_camera_link"/>
  <joint name="r_hand_camera_joint" type="fixed">
    <parent link="r_hand_force_torque"/>
    <child link="r_hand_camera_link"/>
    <!-- new camera has no inward angle, placeholder is still here in case it is later tilted-->
    <origin rpy=" 1.57079 0  1.5708" xyz="0.09892  0.01431 0.0"/>
  </joint>
  <joint name="r_hand_camera_optical_frame_joint" type="fixed">
    <origin rpy="-1.57079 0.0 -1.57079" xyz="0 0 0"/>
    <parent link="r_hand_camera_link"/>
    <child link="r_hand_camera_optical_frame"/>
  </joint>
  <link name="r_hand_camera_optical_frame"/>
  <gazebo reference="r_hand_camera_link">
    <sensor name="r_hand_camera_sensor" type="camera">
      <update_rate>10.0</update_rate>
      <camera name="r_hand_camera">
        <pose>0 0 0 0 0 0</pose>
        <!-- m.antone estimate of 2.8mm tamron lense fov -->
        <horizontal_fov>1.7281</horizontal_fov>
        <image>
          <width>1280</width>
          <height>1024</height>
          <format>R8G8B8</format>
        </image>
        <clip>
          <near>0.02</near>
          <far>100</far>
        </clip>
        <noise>
          <type>gaussian</type>
          <!-- Noise is sampled independently per pixel on each frame.
               That pixel's noise value is added to each of its color
               channels, which at that point lie in the range [0,1].
               The stddev value of 0.007 is based on experimental data 
               from a camera in a Sandia hand pointed at a static scene
               in a couple of different lighting conditions.  -->
          <mean>0.0</mean>
          <stddev>0.007</stddev>
        </noise>
      </camera>
      <plugin filename="libgazebo_ros_camera.so" name="r_hand_camera_controller">
        <alwaysOn>true</alwaysOn>
        <updateRate>0.0</updateRate>
        <cameraName>robotiq_hands/r_hand_camera</cameraName>
        <imageTopicName>image_raw</imageTopicName>
        <cameraInfoTopicName>camera_info</cameraInfoTopicName>
        <frameName>r_hand_camera_optical_frame</frameName>
        <hackBaseline>0.07</hackBaseline>
        <distortionK1>0.0</distortionK1>
        <distortionK2>0.0</distortionK2>
        <distortionK3>0.0</distortionK3>
        <distortionT1>0.0</distortionT1>
        <distortionT2>0.0</distortionT2>
      </plugin>
    </sensor>
  </gazebo>
</robot>
